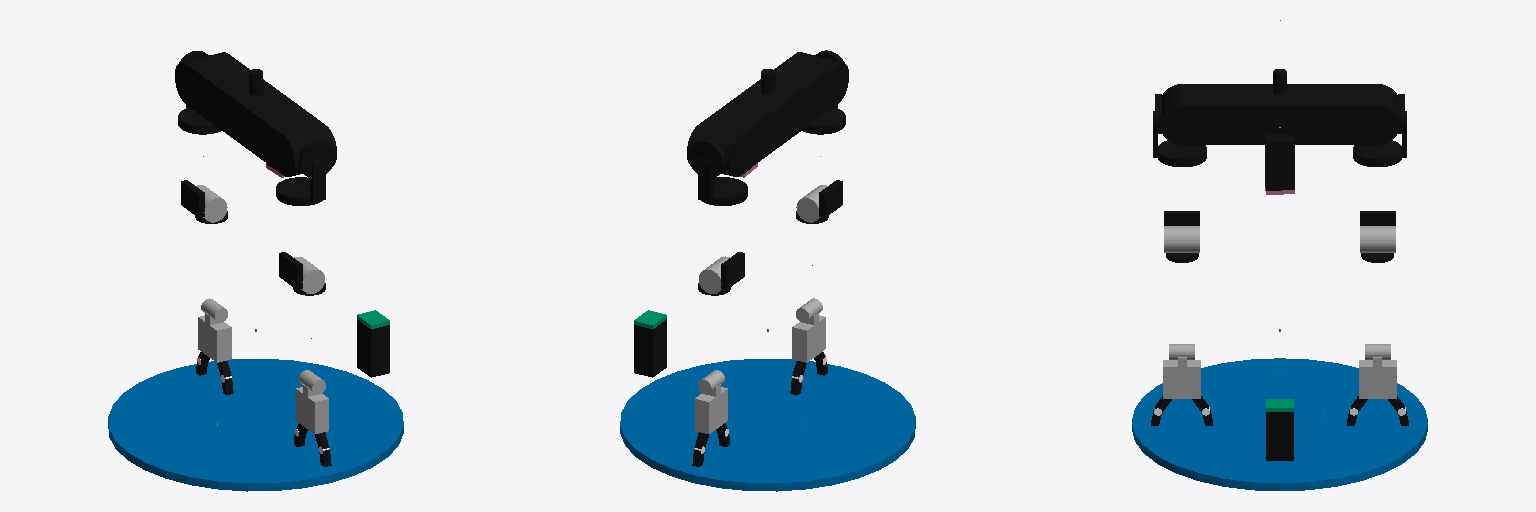
--- Render facts (derived) ---
3 views of the same robot in one strip: view 1: azimuth 30°, elevation 25°; view 2: azimuth 150°, elevation 25°; view 3: azimuth 270°, elevation 25° (orthographic).
Model amigo with 75 links and 74 joints (24 revolute, 1 prismatic, 49 fixed), rooted at base_link, posed joints at zero except 8 at the middle of their limits (finger1_joint_right = 0.6, finger1_tip_joint_right = -0.4, finger2_joint_right = 0.6, finger2_tip_joint_right = -0.4, finger1_joint_left = 0.6, finger1_tip_joint_left = -0.4, +2 more).
Visible links, largest first — view 1: base_plate, clavicles, base_laser, shoulder_mount_right, hand_left, hand_right, upper_arm_top_right, shoulder_link1_right, shoulder_mount_left, upper_arm_top_left, elbow_extra_block_right, elbow_extra_block_left (+3 smaller); view 2: base_plate, clavicles, base_laser, shoulder_mount_left, hand_right, hand_left, upper_arm_top_left, shoulder_link1_left, shoulder_mount_right, upper_arm_top_right, elbow_extra_block_right, elbow_extra_block_left (+3 smaller); view 3: base_plate, clavicles, torso_laser, shoulder_mount_right, shoulder_mount_left, hand_right, hand_left, base_laser, upper_arm_top_right, upper_arm_top_left, elbow_extra_block2_right, elbow_extra_block2_left (+2 smaller).
Boxes of the visible links, bbox=[...] form: base_plate: bbox=[108, 359, 403, 491]; clavicles: bbox=[187, 54, 324, 172]; base_laser: bbox=[357, 320, 389, 377]; shoulder_mount_right: bbox=[273, 125, 336, 176]; hand_left: bbox=[198, 315, 231, 362]; hand_right: bbox=[296, 387, 328, 433]; upper_arm_top_right: bbox=[276, 177, 321, 205]; shoulder_link1_right: bbox=[299, 139, 335, 178]; shoulder_mount_left: bbox=[175, 52, 227, 105]; upper_arm_top_left: bbox=[178, 107, 221, 134]; elbow_extra_block_right: bbox=[279, 252, 302, 289]; elbow_extra_block_left: bbox=[181, 180, 204, 217]; base_plate: bbox=[620, 359, 915, 491]; clavicles: bbox=[699, 54, 837, 174]; base_laser: bbox=[634, 319, 666, 377]; shoulder_mount_left: bbox=[687, 125, 750, 176]; hand_right: bbox=[792, 315, 825, 362]; hand_left: bbox=[695, 387, 727, 433]; upper_arm_top_left: bbox=[702, 177, 747, 205]; shoulder_link1_left: bbox=[688, 139, 724, 178]; shoulder_mount_right: bbox=[796, 52, 848, 105]; upper_arm_top_right: bbox=[802, 107, 845, 134]; elbow_extra_block_right: bbox=[819, 180, 842, 217]; elbow_extra_block_left: bbox=[721, 252, 744, 289]; base_plate: bbox=[1132, 358, 1427, 490]; clavicles: bbox=[1183, 84, 1376, 144]; torso_laser: bbox=[1265, 135, 1294, 190]; shoulder_mount_right: bbox=[1160, 84, 1203, 144]; shoulder_mount_left: bbox=[1356, 84, 1399, 144]; hand_right: bbox=[1163, 360, 1200, 398]; hand_left: bbox=[1359, 360, 1396, 398]; base_laser: bbox=[1266, 412, 1293, 460]; upper_arm_top_right: bbox=[1158, 140, 1206, 166]; upper_arm_top_left: bbox=[1353, 140, 1401, 166]; elbow_extra_block2_right: bbox=[1164, 226, 1199, 252]; elbow_extra_block2_left: bbox=[1360, 226, 1395, 252].
Size in the robot's own frame: 0.6681 by 0.666 by 1.05 metres.
Meshes: 10 distinct files referenced, 14 mesh visuals loaded (10 Collada DAE).

URDF robot description (amigo):
<?xml version="1.0" ?>
<!-- =================================================================================== -->
<!-- |    This document was autogenerated by xacro from [local-path]/ros/groovy/tue/trunk/amigo_common/amigo_description/scripts/../urdf/xacro/amigo_old.urdf.xacro | -->
<!-- |    EDITING THIS FILE BY HAND IS NOT RECOMMENDED                                 | -->
<!-- =================================================================================== -->
<robot name="amigo" xmlns:controller="http://playerstage.sourceforge.net/gazebo/xmlschema/#controller" xmlns:interface="http://playerstage.sourceforge.net/gazebo/xmlschema/#interface" xmlns:sensor="http://playerstage.sourceforge.net/gazebo/xmlschema/#sensor" xmlns:xacro="http://ros.org/wiki/xacro">
  <author>Rob Janssen</author>
  <license>BSD</license>
  <review notes="" status="unreviewed"/>
  <!--get link & joint definitions -->
  <author>Kris van Tienhoven</author>
  <license>BSD</license>
  <review notes="" status="unreviewed"/>
  <!--get custom materials -->
  <author>Kris van Tienhoven</author>
  <license>BSD</license>
  <review notes="" status="unreviewed"/>
  <material name="Blue">
    <color rgba="0.0 0.0 0.8 1.0"/>
  </material>
  <material name="Green">
    <color rgba="0.0 0.8 0.0 1.0"/>
  </material>
  <material name="Grey">
    <color rgba="0.7 0.7 0.7 1.0"/>
  </material>
  <material name="Grey2">
    <color rgba="0.9 0.9 0.9 1.0"/>
  </material>
  <material name="Red">
    <color rgba="0.8 0.0 0.0 1.0"/>
  </material>
  <material name="White">
    <color rgba="1.0 1.0 1.0 1.0"/>
  </material>
  <material name="Black">
    <color rgba="0.1 0.1 0.1 1.0"/>
  </material>
  <material name="LightGrey">
    <color rgba="0.6 0.6 0.6 1.0"/>
  </material>
  <material name="amigo_description/bottomcovers">
    <texture filename="package://amigo_description/media/materials/textures/bottomcovers/finalreduced.jpg"/>
  </material>
  <material name="amigo_description/white">
    <texture filename="package://amigo_description/media/materials/textures/white/white.jpg"/>
  </material>
  <material name="amigo_description/logo">
    <texture filename="package://amigo_description/media/materials/textures/logo/tue.jpg"/>
  </material>
  <material name="amigo_description/aluminium">
    <texture filename="package://amigo_description/media/materials/textures/aluminium/aluminium_0001_c.jpg"/>
  </material>
  <material name="amigo_description/orange">
    <texture filename="package://amigo_description/media/materials/textures/orange/orange.jpg"/>
  </material>
  <!--========BUILD BODY======-->
  <author>Rob Janssen, Kris van Tienhoven</author>
  <license>BSD</license>
  <review notes="" status="unreviewed"/>
  <link name="torso">
    <inertial>
      <origin rpy="0 0 0" xyz="0.0 0.0 0.0"/>
      <mass value="16"/>
      <inertia ixx="0.01" ixy="0" ixz="0" iyy="0.01" iyz="0" izz="0.01"/>
    </inertial>
    <visual>
      <origin rpy="-1.5708 0 -1.5708" xyz="0.045 0.0 0.06"/>
      <geometry>
        <mesh filename="package://amigo_description/media/meshes/torsocovers.dae" scale="0.0004 0.0004 0.0004"/>
      </geometry>
      <material name="amigo_description/white"/>
    </visual>
    <collision>
      <origin rpy="-1.5708 0 -1.5708" xyz="0.045 0.0 0.06"/>
      <geometry>
        <mesh filename="package://amigo_description/media/meshes/torsocovers.dae" scale="0.0004 0.0004 0.0004"/>
      </geometry>
    </collision>
  </link>
  <gazebo reference="torso">
    <material>amigo_description/white</material>
    <turnGravityOff>false</turnGravityOff>
  </gazebo>
  <link name="torso_slider">
    <inertial>
      <origin rpy="0 0 0" xyz="0 0 0"/>
      <mass value="0.1"/>
      <inertia ixx="0.01" ixy="0" ixz="0" iyy="0.01" iyz="0" izz="0.01"/>
    </inertial>
    <visual>
      <origin rpy="0 0 1.5708" xyz="0.05 0 0.0"/>
      <geometry>
        <mesh filename="package://amigo_description/media/meshes/torsoslidertextured.dae" scale="0.004 0.004 0.004"/>
      </geometry>
      <material name="amigo_description/aluminium"/>
    </visual>
    <collision>
      <origin rpy="0 0 1.5708" xyz="0.05 0 0.0"/>
      <geometry>
        <mesh filename="package://amigo_description/media/meshes/torsoslidertextured.dae" scale="0.004 0.004 0.004"/>
      </geometry>
    </collision>
  </link>
  <gazebo reference="torso_slider">
    <material>amigo_description/aluminium</material>
    <turnGravityOff>false</turnGravityOff>
  </gazebo>
  <link name="base">
    <inertial>
      <origin rpy="0 0 0" xyz="0.0 0.0 0.3275"/>
      <mass value="20"/>
      <inertia ixx="2.63" ixy="0" ixz="0" iyy="2.63" iyz="0" izz="2.4"/>
    </inertial>
    <visual>
      <origin rpy="0 0 -1.5708" xyz="0.0 0.0 0.23"/>
      <geometry>
        <mesh filename="package://amigo_description/media/meshes/bottomcovers.dae" scale="0.0004 0.0004 0.0004"/>
      </geometry>
      <material name="amigo_description/bottomcovers"/>
    </visual>
    <collision>
      <origin rpy="0 0 -1.5708" xyz="0.0 0.0 0.23"/>
      <geometry>
        <mesh filename="package://amigo_description/media/meshes/bottomcovers.dae" scale="0.0004 0.0004 0.0004"/>
      </geometry>
    </collision>
  </link>
  <gazebo reference="base">
    <material>amigo_description/bottomcovers</material>
    <turnGravityOff>false</turnGravityOff>
  </gazebo>
  <link name="base_link">
    <inertial>
      <origin rpy="0 0 0" xyz="0.0 0.0 0.0"/>
      <mass value="0"/>
      <inertia ixx="0" ixy="0" ixz="0" iyy="0" iyz="0" izz="0"/>
    </inertial>
    <visual>
      <origin rpy="0 0 0" xyz="0.0 0.0 0.0"/>
      <geometry>
        <cylinder length="0.00" radius="0.0"/>
      </geometry>
      <material name="Red">
     </material>
    </visual>
    <collision>
      <origin rpy="0 0 0" xyz="0.0 0.0 0.0"/>
      <geometry>
        <cylinder length="0.00" radius="0.0"/>
      </geometry>
    </collision>
  </link>
  <gazebo reference="base_link">
    <material>Gazebo/Red</material>
    <turnGravityOff>false</turnGravityOff>
  </gazebo>
  <joint name="torso_joint" type="prismatic">
    <parent link="base"/>
    <child link="torso_slider"/>
    <axis xyz="1 0 0"/>
    <origin rpy="3.14159265 -1.5708 0" xyz="0.0 0.0 0.58"/>
    <dynamics damping="3" friction="0.0"/>
    <!--*-->
    <limit effort="1000" lower="0.0" upper="0.41" velocity="10.0"/>
    <!--*-->
  </joint>
  <joint name="base_link_joint" type="fixed">
    <parent link="base_link"/>
    <child link="base"/>
    <axis xyz="1 0 0"/>
    <origin rpy="0 0 0" xyz="0.0 0.0 0.055"/>
  </joint>
  <joint name="torso_slider_joint" type="fixed">
    <parent link="torso_slider"/>
    <child link="torso"/>
    <axis xyz="1 0 0"/>
    <origin rpy="0 0 0" xyz="0.135 0.0 0.0"/>
  </joint>
  <!--extra body visuals-->
  <author>Kris van Tienhoven</author>
  <license>BSD</license>
  <review notes="" status="unreviewed"/>
  <link name="base_plate">
    <inertial>
      <origin rpy="0 0 0" xyz="0.0 0.0 0.0"/>
      <mass value="0.1"/>
      <inertia ixx="0.01" ixy="0" ixz="0" iyy="0.01" iyz="0" izz="0.01"/>
    </inertial>
    <visual>
      <origin rpy="0 0 0" xyz="0.0 0.0 0.0"/>
      <geometry>
        <cylinder length="0.02" radius="0.333"/>
      </geometry>
      <material name="amigo_description/aluminium">
     </material>
    </visual>
    <collision>
      <origin rpy="0 0 0" xyz="0.0 0.0 0.0"/>
      <geometry>
        <cylinder length="0.02" radius="0.333"/>
      </geometry>
    </collision>
  </link>
  <gazebo reference="base_plate">
    <material>amigo_description/aluminium</material>
    <turnGravityOff>false</turnGravityOff>
  </gazebo>
  <joint name="base_plate_joint" type="fixed">
    <parent link="base_link"/>
    <child link="base_plate"/>
    <axis xyz="1 0 0"/>
    <origin rpy="0 0 0" xyz="0.0 0.0 0.05"/>
  </joint>
  <link name="torso_assist_slider_right">
    <inertial>
      <origin rpy="0 0 0" xyz="0 0 0"/>
      <mass value="0.01"/>
      <inertia ixx="0.01" ixy="0" ixz="0" iyy="0.01" iyz="0" izz="0.01"/>
    </inertial>
    <visual>
      <origin rpy="0 1.5708 0" xyz="-0.4  0.0 0.0"/>
      <geometry>
        <mesh filename="package://amigo_description/media/meshes/torsoassistslidertextured.dae" scale="0.004 0.004 0.005"/>
      </geometry>
      <material name="amigo_description/aluminium"/>
    </visual>
    <collision>
      <origin rpy="0 1.5708 0" xyz="-0.4  0.0 0.0"/>
      <geometry>
        <mesh filename="package://amigo_description/media/meshes/torsoassistslidertextured.dae" scale="0.004 0.004 0.005"/>
      </geometry>
    </collision>
  </link>
  <gazebo reference="torso_assist_slider_right">
    <material>amigo_description/aluminium</material>
    <turnGravityOff>false</turnGravityOff>
  </gazebo>
  <link name="torso_assist_slider_left">
    <inertial>
      <origin rpy="0 0 0" xyz="0 0 0"/>
      <mass value="0.01"/>
      <inertia ixx="0.01" ixy="0" ixz="0" iyy="0.01" iyz="0" izz="0.01"/>
    </inertial>
    <visual>
      <origin rpy="0 1.5708 0" xyz="-0.4  0.0 0.0"/>
      <geometry>
        <mesh filename="package://amigo_description/media/meshes/torsoassistslidertextured.dae" scale="0.004 0.004 0.005"/>
      </geometry>
      <material name="amigo_description/aluminium"/>
    </visual>
    <collision>
      <origin rpy="0 1.5708 0" xyz="-0.4  0.0 0.0"/>
      <geometry>
        <mesh filename="package://amigo_description/media/meshes/torsoassistslidertextured.dae" scale="0.004 0.004 0.005"/>
      </geometry>
    </collision>
  </link>
  <gazebo reference="torso_assist_slider_left">
    <material>amigo_description/aluminium</material>
    <turnGravityOff>false</turnGravityOff>
  </gazebo>
  <link name="torso_assist_slider_back">
    <inertial>
      <origin rpy="0 0 0" xyz="0 0 0"/>
      <mass value="0.01"/>
      <inertia ixx="0.01" ixy="0" ixz="0" iyy="0.01" iyz="0" izz="0.01"/>
    </inertial>
    <visual>
      <origin rpy="0 1.5708 0" xyz="-0.4 0.0 0.0"/>
      <geometry>
        <mesh filename="package://amigo_description/media/meshes/torsoassistslidertextured.dae" scale="0.004 0.004 0.005"/>
      </geometry>
      <material name="amigo_description/aluminium"/>
    </visual>
    <collision>
      <origin rpy="0 1.5708 0" xyz="-0.4 0.0 0.0"/>
      <geometry>
        <mesh filename="package://amigo_description/media/meshes/torsoassistslidertextured.dae" scale="0.004 0.004 0.005"/>
      </geometry>
    </collision>
  </link>
  <gazebo reference="torso_assist_slider_back">
    <material>amigo_description/aluminium</material>
    <turnGravityOff>false</turnGravityOff>
  </gazebo>
  <joint name="torso_slider_assist_joint_right" type="fixed">
    <parent link="torso"/>
    <child link="torso_assist_slider_right"/>
    <origin rpy="0 0 0" xyz="-0.3 0.1 0.0"/>
  </joint>
  <joint name="torso_slider_assist_joint_left" type="fixed">
    <parent link="torso"/>
    <child link="torso_assist_slider_left"/>
    <origin rpy="0 0 0" xyz="-0.3 -0.1 0.0"/>
  </joint>
  <joint name="torso_slider_assist_joint_back" type="fixed">
    <parent link="torso"/>
    <child link="torso_assist_slider_back"/>
    <origin rpy="1.5708 0 0" xyz="-0.3 0.0 -0.1"/>
  </joint>
  <link name="clavicles">
    <inertial>
      <origin rpy="0 0 0" xyz="0 0 0"/>
      <mass value="0.01"/>
      <inertia ixx="0.01" ixy="0" ixz="0" iyy="0.01" iyz="0" izz="0.01"/>
    </inertial>
    <visual>
      <origin rpy="0 0 0" xyz="0.0 0.0 0.0"/>
      <geometry>
        <box size="0.1 0.436 0.11"/>
      </geometry>
      <material name="Black">
     </material>
    </visual>
    <collision>
      <origin rpy="0 0 0" xyz="0.0 0.0 0.0"/>
      <geometry>
        <box size="0.1 0.436 0.11"/>
      </geometry>
    </collision>
  </link>
  <gazebo reference="clavicles">
    <material>Gazebo/Black</material>
    <turnGravityOff>false</turnGravityOff>
  </gazebo>
  <joint name="clavicle_joint" type="fixed">
    <parent link="torso"/>
    <child link="clavicles"/>
    <origin rpy="0 0 0" xyz="0.05 0.0 0.0"/>
  </joint>
  <!--========BUILD LASERS======-->
  <author>Kris van Tienhoven</author>
  <license>BSD</license>
  <review notes="" status="unreviewed"/>
  <link name="base_laser">
    <inertial>
      <origin rpy="0 0 0" xyz="0.0 0.0 0.0"/>
      <mass value="0.5"/>
      <inertia ixx="0.0001" ixy="0" ixz="0" iyy="0.0001" iyz="0" izz="0.0001"/>
    </inertial>
    <visual>
      <origin rpy="0 0 0" xyz="-0.005 0.0 -0.065"/>
      <geometry>
        <box size="0.05 0.065 0.12"/>
      </geometry>
      <material name="Black">
     </material>
    </visual>
    <collision>
      <origin rpy="0 0 0" xyz="-0.005 0.0 -0.065"/>
      <geometry>
        <box size="0.05 0.065 0.12"/>
      </geometry>
    </collision>
  </link>
  <gazebo reference="base_laser">
    <material>Gazebo/Black</material>
    <turnGravityOff>false</turnGravityOff>
  </gazebo>
  <joint name="base_laser_joint" type="fixed">
    <parent link="base"/>
    <child link="base_laser"/>
    <origin rpy="0 0 0" xyz="0.31 0.0 0.185"/>
    <axis xyz="0 1 0"/>
    <dynamics damping="0.1" friction="0"/>
    <limit effort="13.4" lower="-0.7809" upper="1.5708" velocity="1.0"/>
  </joint>
  <link name="lasertop">
    <inertial>
      <origin rpy="0 0 0" xyz="0.0 0.0 0.0"/>
      <mass value="0.01"/>
      <inertia ixx="0.0001" ixy="0" ixz="0" iyy="0.0001" iyz="0" izz="0.0001"/>
    </inertial>
    <visual>
      <origin rpy="0 0 0" xyz="-0.005 0.0 0.0"/>
      <geometry>
        <box size="0.05 0.065 0.01"/>
      </geometry>
      <material name="amigo_description/orange">
     </material>
    </visual>
    <collision>
      <origin rpy="0 0 0" xyz="-0.005 0.0 0.0"/>
      <geometry>
        <box size="0.05 0.065 0.01"/>
      </geometry>
    </collision>
  </link>
  <gazebo reference="lasertop">
    <material>amigo_description/orange</material>
    <turnGravityOff>false</turnGravityOff>
  </gazebo>
  <joint name="lasertop_joint" type="fixed">
    <parent link="base_laser"/>
    <child link="lasertop"/>
  </joint>
  <link name="logo">
    <inertial>
      <origin rpy="0 0 0" xyz="0.0 0.0 0.0"/>
      <mass value="0.01"/>
      <inertia ixx="0.0001" ixy="0" ixz="0" iyy="0.0001" iyz="0" izz="0.0001"/>
    </inertial>
    <visual>
      <origin rpy="0 0 3.1415" xyz="0.025 0.0 -0.14"/>
      <geometry>
        <mesh filename="package://amigo_description/media/meshes/logo.dae" scale="0.0016 0.0016 0.0016"/>
      </geometry>
      <material name="amigo_description/logo"/>
    </visual>
    <collision>
      <origin rpy="0 0 3.1415" xyz="0.025 0.0 -0.14"/>
      <geometry>
        <mesh filename="package://amigo_description/media/meshes/logo.dae" scale="0.0016 0.0016 0.0016"/>
      </geometry>
    </collision>
  </link>
  <gazebo reference="logo">
    <material>amigo_description/logo</material>
    <turnGravityOff>false</turnGravityOff>
  </gazebo>
  <joint name="logo_joint" type="fixed">
    <parent link="base_laser"/>
    <child link="logo"/>
  </joint>
  <author>Janno Lunenburg</author>
  <license>BSD</license>
  <review notes="" status="unreviewed"/>
  <link name="torso_dummy">
    <inertial>
      <origin rpy="0 0 0" xyz="0.0 0.0 0.0"/>
      <mass value="0"/>
      <inertia ixx="0" ixy="0" ixz="0" iyy="0" iyz="0" izz="0"/>
    </inertial>
    <visual>
      <origin rpy="0 0 0" xyz="0.0 0.0 0.0"/>
      <geometry>
        <cylinder length="0.00" radius="0.0"/>
      </geometry>
      <material name="Red">
     </material>
    </visual>
    <collision>
      <origin rpy="0 0 0" xyz="0.0 0.0 0.0"/>
      <geometry>
        <cylinder length="0.00" radius="0.0"/>
      </geometry>
    </collision>
  </link>
  <gazebo reference="torso_dummy">
    <material>Gazebo/Red</material>
    <turnGravityOff>false</turnGravityOff>
  </gazebo>
  <link name="torso_laser">
    <inertial>
      <origin rpy="0 0 0" xyz="0.0 0.0 0.0"/>
      <mass value="0.5"/>
      <inertia ixx="0.0001" ixy="0" ixz="0" iyy="0.0001" iyz="0" izz="0.0001"/>
    </inertial>
    <visual>
      <origin rpy="0 0 0" xyz="-0.005 0.0 -0.065"/>
      <geometry>
        <box size="0.05 0.065 0.12"/>
      </geometry>
      <material name="Black">
     </material>
    </visual>
    <collision>
      <origin rpy="0 0 0" xyz="-0.005 0.0 -0.065"/>
      <geometry>
        <box size="0.05 0.065 0.12"/>
      </geometry>
    </collision>
  </link>
  <gazebo reference="torso_laser">
    <material>Gazebo/Black</material>
    <turnGravityOff>false</turnGravityOff>
  </gazebo>
  <joint name="torso_dummy_joint" type="fixed">
    <parent link="torso"/>
    <child link="torso_dummy"/>
    <origin rpy="0.0 -1.57 0.0" xyz="-0.0994 0.0 0.075"/>
    <axis xyz="0 1 0"/>
    <dynamics damping="0.1" friction="0"/>
    <limit effort="13.4" lower="-0.7809" upper="1.5708" velocity="1.0"/>
  </joint>
  <joint name="torso_laser_joint" type="fixed">
    <parent link="torso_dummy"/>
    <child link="torso_laser"/>
    <origin rpy="0.0 0.0 -0.05" xyz="0.0 0.0 0.0"/>
    <axis xyz="0 1 0"/>
    <dynamics damping="0.1" friction="0"/>
    <limit effort="13.4" lower="-0.7809" upper="1.5708" velocity="1.0"/>
  </joint>
  <link name="torso_lasertop">
    <inertial>
      <origin rpy="0 0 0" xyz="0.0 0.0 0.0"/>
      <mass value="0.01"/>
      <inertia ixx="0.0001" ixy="0" ixz="0" iyy="0.0001" iyz="0" izz="0.0001"/>
    </inertial>
    <visual>
      <origin rpy="0 0 0" xyz="-0.005 0.0 0.0"/>
      <geometry>
        <box size="0.05 0.065 0.01"/>
      </geometry>
      <material name="amigo_description/orange">
     </material>
    </visual>
    <collision>
      <origin rpy="0 0 0" xyz="-0.005 0.0 0.0"/>
      <geometry>
        <box size="0.05 0.065 0.01"/>
      </geometry>
    </collision>
  </link>
  <gazebo reference="torso_lasertop">
    <material>amigo_description/orange</material>
    <turnGravityOff>false</turnGravityOff>
  </gazebo>
  <joint name="torso_lasertop_joint" type="fixed">
    <parent link="torso_laser"/>
    <child link="torso_lasertop"/>
  </joint>
  <!--========BUILD HEAD======-->
  <author>Kris van Tienhoven</author>
  <license>BSD</license>
  <review notes="" status="unreviewed"/>
  <link name="head_mount">
    <inertial>
      <origin rpy="0 0 0" xyz="0.0 0.0 0.0"/>
      <mass value="0.001"/>
      <inertia ixx="0.0001" ixy="0" ixz="0" iyy="0.0001" iyz="0" izz="0.0001"/>
    </inertial>
  </link>
  <joint name="head_mount_joint" type="fixed">
    <parent link="torso"/>
    <child link="head_mount"/>
    <axis xyz="0 0 1"/>
    <origin rpy="  0.0 0.0 0.0" xyz="0.097 0.0 0.0"/>
  </joint>
  <link name="neck_pan">
    <inertial>
      <origin rpy="0 0 0" xyz="0.0 0.0 0.0335"/>
      <mass value="0.05"/>
      <inertia ixx="0.0001" ixy="0" ixz="0" iyy="0.0001" iyz="0" izz="0.0001"/>
    </inertial>
    <visual>
      <origin rpy="0 0 0" xyz="0.0 0.0 0.0335"/>
      <geometry>
        <cylinder length="0.0525" radius="0.015"/>
      </geometry>
      <material name="Black">
     </material>
    </visual>
    <collision>
      <origin rpy="0 0 0" xyz="0.0 0.0 0.0335"/>
      <geometry>
        <cylinder length="0.0525" radius="0.015"/>
      </geometry>
    </collision>
  </link>
  <gazebo reference="neck_pan">
    <material>Gazebo/Black</material>
    <turnGravityOff>false</turnGravityOff>
  </gazebo>
  <link name="neck_tilt">
    <inertial>
      <origin rpy="0 0 0" xyz="0.0 -0.0 0.0285"/>
      <mass value="0.05"/>
      <inertia ixx="0.001" ixy="0" ixz="0" iyy="0.001" iyz="0" izz="0.001"/>
    </inertial>
    <visual>
      <origin rpy="0 0 0" xyz="0.0 -0.0 0.015"/>
      <geometry>
        <mesh filename="package://amigo_description/media/meshes/necktilttextured.dae" scale="0.004 0.004 0.004"/>
      </geometry>
      <material name="amigo_description/aluminium"/>
    </visual>
    <collision>
      <origin rpy="0 0 0" xyz="0.0 -0.0 0.015"/>
      <geometry>
        <mesh filename="package://amigo_description/media/meshes/necktilttextured.dae" scale="0.004 0.004 0.004"/>
      </geometry>
    </collision>
  </link>
  <gazebo reference="neck_tilt">
    <material>amigo_description/aluminium</material>
    <turnGravityOff>false</turnGravityOff>
  </gazebo>
  <link name="head">
    <inertial>
      <origin rpy="0 0 0" xyz="0 0 0.041"/>
      <mass value="0"/>
      <inertia ixx="0" ixy="0" ixz="0" iyy="0" iyz="0" izz="0"/>
    </inertial>
    <visual>
      <origin rpy="0 0 -1.5708" xyz="0.0 0.0 0.141"/>
      <geometry>
        <mesh filename="package://amigo_description/media/meshes/headtextured.dae" scale="0.0004 0.0004 0.0004"/>
      </geometry>
      <material name="amigo_description/white"/>
    </visual>
    <collision>
      <origin rpy="0 0 -1.5708" xyz="0.0 0.0 0.141"/>
      <geometry>
        <mesh filename="package://amigo_description/media/meshes/headtextured.dae" scale="0.0004 0.0004 0.0004"/>
      </geometry>
    </collision>
  </link>
  <gazebo reference="head">
    <material>amigo_description/white</material>
    <turnGravityOff>false</turnGravityOff>
  </gazebo>
  <joint name="head_joint" type="fixed">
    <parent link="neck_tilt"/>
    <child link="head"/>
  </joint>
  <joint name="neck_pan_joint" type="revolute">
    <parent link="head_mount"/>
    <child link="neck_pan"/>
    <origin rpy="3.14 -1.5708 0.0" xyz="0.0 0.0 0.0"/>
    <axis xyz="0 0 1"/>
    <dynamics damping="0.1" friction="0"/>
    <limit effort="13.4" lower="-1.5708" upper="1.5708" velocity="1.0"/>
  </joint>
  <joint name="neck_tilt_joint" type="revolute">
    <parent link="neck_pan"/>
    <child link="neck_tilt"/>
    <origin rpy="0.0 0.0 0.0" xyz="0.0 0.0 0.0445"/>
    <axis xyz="0 1 0"/>
    <dynamics damping="0.1" friction="0.0"/>
    <limit effort="13.4" lower="-2.0" upper="2.0" velocity="1.0"/>
  </joint>
  <!--========BUILD KINECT======-->
  <joint name="top_kinect/base_kinect_joint" type="fixed">
    <origin rpy="0 0 0" xyz="0.07 0 0.07"/>
    <!-- THESE VALUES ARE ROUGH ESTIMATES!! -->
    <parent link="head"/>
    <child link="top_kinect/openni_camera"/>
  </joint>
  <link name="top_kinect/openni_camera">
    <inertial>
      <mass value="0.01"/>
      <origin xyz="0 0 0"/>
      <inertia ixx="0.001" ixy="0.0" ixz="0.0" iyy="0.001" iyz="0.0" izz="0.001"/>
    </inertial>
    <visual>
      <origin rpy="0 0 0" xyz=" 0 0 0 "/>
      <geometry>
        <box size="0 0 0"/>
        <!--mesh filename="package://amigo_description/kinect/meshes/kinect.dae" scale="0.001 0.001 0.001"/-->
        <!--<mesh filename="package://amigo_description/kinect/meshes/kinect_without_base.dae"/>-->
      </geometry>
    </visual>
    <!--<collision>
      <origin xyz="-0.0365 0.0 0.0" rpy="0 0 0" />
      <geometry>
        <box size="0.0730 .2760 0.0720"/>
      </geometry>
    </collision>-->
  </link>
  <joint name="top_kinect/kinect_depth_joint" type="fixed">
    <origin rpy="0 0 0" xyz="0 0.018 0"/>
    <parent link="top_kinect/openni_camera"/>
    <child link="top_kinect/openni_depth_frame"/>
  </joint>
  <link name="top_kinect/openni_depth_frame">
    <inertial>
      <mass value="0.01"/>
      <origin xyz="0 0 0"/>
      <inertia ixx="0.001" ixy="0.0" ixz="0.0" iyy="0.001" iyz="0.0" izz="0.001"/>
    </inertial>
  </link>
  <joint name="top_kinect/kinect_depth_optical_joint" type="fixed">
    <origin rpy="-1.570795 0 -1.570795" xyz="0 0 0"/>
    <parent link="top_kinect/openni_depth_frame"/>
    <child link="top_kinect/openni_depth_optical_frame"/>
  </joint>
  <link name="top_kinect/openni_depth_optical_frame">
    <inertial>
      <mass value="0.001"/>
      <origin xyz="0 0 0"/>
      <inertia ixx="0.0001" ixy="0.0" ixz="0.0" iyy="0.0001" iyz="0.0" izz="0.0001"/>
    </inertial>
  </link>
  <joint name="top_kinect/kinect_rgb_joint" type="fixed">
    <origin rpy="0 0 0" xyz="0 -0.005 0"/>
    <parent link="top_kinect/openni_camera"/>
    <child link="top_kinect/openni_rgb_frame"/>
  </joint>
  <link name="top_kinect/openni_rgb_frame">
    <inertial>
      <mass value="0.001"/>
      <origin xyz="0 0 0"/>
      <inertia ixx="0.0001" ixy="0.0" ixz="0.0" iyy="0.0001" iyz="0.0" izz="0.0001"/>
    </inertial>
  </link>
  <joint name="top_kinect/kinect_rgb_optical_joint" type="fixed">
    <origin rpy="-1.570795 0 -1.570795" xyz="0 0 0"/>
    <parent link="top_kinect/openni_rgb_frame"/>
    <child link="top_kinect/openni_rgb_optical_frame"/>
  </joint>
  <link name="top_kinect/openni_rgb_optical_frame">
    <inertial>
      <mass value="0.001"/>
      <origin xyz="0 0 0"/>
      <inertia ixx="0.0001" ixy="0.0" ixz="0.0" iyy="0.0001" iyz="0.0" izz="0.0001"/>
    </inertial>
  </link>
  <joint name="base_kinect/base_kinect_joint" type="fixed">
    <origin rpy="0 -0.07 0" xyz="0.3 0 0.26"/>
    <!-- THESE VALUES STILL HAVE TO BE CALIBRATED!! -->
    <parent link="base"/>
    <child link="base_kinect/openni_camera"/>
  </joint>
  <link name="base_kinect/openni_camera">
    <inertial>
      <mass value="0.01"/>
      <origin xyz="0 0 0"/>
      <inertia ixx="0.001" ixy="0.0" ixz="0.0" iyy="0.001" iyz="0.0" izz="0.001"/>
    </inertial>
    <visual>
      <origin rpy="0 0 0" xyz=" 0 0 0 "/>
      <geometry>
        <!--<box size="0 0 0"/>-->
        <!--mesh filename="package://amigo_description/description/kinect/meshes/kinect.dae" scale="0.001 0.001 0.001"/-->
        <mesh filename="package://amigo_description/media/meshes/kinect/kinect_without_base.dae"/>
      </geometry>
    </visual>
    <collision>
      <origin rpy="0 0 0" xyz=" 0 0 0 "/>
      <geometry>
        <!--<box size="0.01 0.01 0.01"/>-->
        <!--<mesh filename="package://amigo_description/description/kinect/meshes/kinect.dae" scale="0.001 0.001 0.001"/>-->
        <mesh filename="package://amigo_description/media/meshes/kinect/kinect_without_base.dae"/>
      </geometry>
    </collision>
  </link>
  <joint name="base_kinect/kinect_depth_joint" type="fixed">
    <origin rpy="0 0 0" xyz="0 0.018 0"/>
    <parent link="base_kinect/openni_camera"/>
    <child link="base_kinect/openni_depth_frame"/>
  </joint>
  <link name="base_kinect/openni_depth_frame">
    <inertial>
      <mass value="0.01"/>
      <origin xyz="0 0 0"/>
      <inertia ixx="0.001" ixy="0.0" ixz="0.0" iyy="0.001" iyz="0.0" izz="0.001"/>
    </inertial>
  </link>
  <joint name="base_kinect/kinect_depth_optical_joint" type="fixed">
    <origin rpy="-1.570795 0 -1.570795" xyz="0 0 0"/>
    <parent link="base_kinect/openni_depth_frame"/>
    <child link="base_kinect/openni_depth_optical_frame"/>
  </joint>
  <link name="base_kinect/openni_depth_optical_frame">
    <inertial>
      <mass value="0.001"/>
      <origin xyz="0 0 0"/>
      <inertia ixx="0.0001" ixy="0.0" ixz="0.0" iyy="0.0001" iyz="0.0" izz="0.0001"/>
    </inertial>
  </link>
  <joint name="base_kinect/kinect_rgb_joint" type="fixed">
    <origin rpy="0 0 0" xyz="0 -0.005 0"/>
    <parent link="base_kinect/openni_camera"/>
    <child link="base_kinect/openni_rgb_frame"/>
  </joint>
  <link name="base_kinect/openni_rgb_frame">
    <inertial>
      <mass value="0.001"/>
      <origin xyz="0 0 0"/>
      <inertia ixx="0.0001" ixy="0.0" ixz="0.0" iyy="0.0001" iyz="0.0" izz="0.0001"/>
    </inertial>
  </link>
  <joint name="base_kinect/kinect_rgb_optical_joint" type="fixed">
    <origin rpy="-1.570795 0 -1.570795" xyz="0 0 0"/>
    <parent link="base_kinect/openni_rgb_frame"/>
    <child link="base_kinect/openni_rgb_optical_frame"/>
  </joint>
  <link name="base_kinect/openni_rgb_optical_frame">
    <inertial>
      <mass value="0.001"/>
      <origin xyz="0 0 0"/>
      <inertia ixx="0.0001" ixy="0.0" ixz="0.0" iyy="0.0001" iyz="0.0" izz="0.0001"/>
    </inertial>
  </link>
  <!--========BUILD ARMS======-->
  <author>Rob Janssen, Kris van Tienhoven</author>
  <license>BSD</license>
  <review notes="" status="unreviewed"/>
  <link name="shoulder_mount_right">
    <inertial>
      <origin rpy="0 0 0" xyz="0.0 0.0 0.0"/>
      <mass value="0.15"/>
      <inertia ixx="0.01" ixy="0" ixz="0" iyy="0.01" iyz="0" izz="0.01"/>
    </inertial>
    <visual>
      <origin rpy="0 0 0 " xyz="0.0 0.0 0.0"/>
      <geometry>
        <cylinder length="0.11" radius="0.05"/>
      </geometry>
      <material name="Black">
     </material>
    </visual>
    <collision>
      <origin rpy="0 0 0 " xyz="0.0 0.0 0.0"/>
      <geometry>
        <cylinder length="0.11" radius="0.05"/>
      </geometry>
    </collision>
  </link>
  <gazebo reference="shoulder_mount_right">
    <material>Gazebo/Black</material>
    <turnGravityOff>false</turnGravityOff>
  </gazebo>
  <link name="shoulder_link1_right">
    <inertial>
      <origin rpy="0 0 0" xyz="0.0 0.0 0.0"/>
      <mass value="0.25"/>
      <inertia ixx="6.0" ixy="0" ixz="0" iyy="0.01" iyz="0" izz="0.01"/>
    </inertial>
    <visual>
      <origin rpy="0 0 0 " xyz="0.0 0.0 0.0525"/>
      <geometry>
        <cylinder length="0.015" radius="0.045"/>
      </geometry>
      <material name="Black">
     </material>
    </visual>
    <collision>
      <origin rpy="0 0 0 " xyz="0.0 0.0 0.0525"/>
      <geometry>
        <cylinder length="0.015" radius="0.045"/>
      </geometry>
    </collision>
  </link>
  <gazebo reference="shoulder_link1_right">
    <material>Gazebo/Black</material>
    <turnGravityOff>false</turnGravityOff>
  </gazebo>
  <link name="shoulder_link2_right">
    <inertial>
      <origin rpy="0 0 0" xyz="0.0 0.0 0.0"/>
      <mass value="0.15"/>
      <inertia ixx="0.01" ixy="0" ixz="0" iyy="4.04" iyz="0" izz="0.001"/>
    </inertial>
    <visual>
      <origin rpy="0 0 0" xyz="0.0 -0.06 -0.05"/>
      <geometry>
        <box size="0.035 0.01 0.1"/>
      </geometry>
      <material name="Black">
     </material>
    </visual>
    <collision>
      <origin rpy="0 0 0" xyz="0.0 -0.06 -0.05"/>
      <geometry>
        <box size="0.035 0.01 0.1"/>
      </geometry>
    </collision>
  </link>
  <gazebo reference="shoulder_link2_right">
    <material>Gazebo/Black</material>
    <turnGravityOff>false</turnGravityOff>
  </gazebo>
  <link name="upper_arm_right">
    <inertial>
      <origin rpy="0 0 0" xyz="0.0 -0.2 0.0"/>
      <mass value="2.95"/>
      <inertia ixx="0.027" ixy="0" ixz="0" iyy="0.45993" iyz="0" izz="0.004"/>
    </inertial>
    <visual>
      <origin rpy="0 0 3.1415" xyz="-0.00959 -0.19131 -0.00001"/>
      <geometry>
        <mesh filename="package://amigo_description/media/meshes/upperarmtextured.dae" scale="0.0004 0.0004 0.0004"/>
      </geometry>
      <material name="amigo_description/white"/>
    </visual>
    <collision>
      <origin rpy="0 0 3.1415" xyz="-0.00959 -0.19131 -0.00001"/>
      <geometry>
        <mesh filename="package://amigo_description/media/meshes/upperarmtextured.dae" scale="0.0004 0.0004 0.0004"/>
      </geometry>
    </collision>
  </link>
  <gazebo reference="upper_arm_right">
    <material>amigo_description/white</material>
    <turnGravityOff>false</turnGravityOff>
  </gazebo>
  <link name="elbow_link4_right">
    <inertial>
      <origin rpy="0 0 0" xyz="0.0 0.0 0.0"/>
      <mass value="0.1"/>
      <inertia ixx="0.001" ixy="0" ixz="0" iyy="0.6" iyz="0" izz="0.001"/>
    </inertial>
    <visual>
      <origin rpy="0 0 0" xyz="0.0 0.0 0.0"/>
      <geometry>
        <cylinder length="0.0" radius="0.0"/>
      </geometry>
      <material name="Grey">
     </material>
    </visual>
    <collision>
      <origin rpy="0 0 0" xyz="0.0 0.0 0.0"/>
      <geometry>
        <cylinder length="0.0" radius="0.0"/>
      </geometry>
    </collision>
  </link>
  <gazebo reference="elbow_link4_right">
    <material>Gazebo/Grey</material>
    <turnGravityOff>false</turnGravityOff>
  </gazebo>
  <link name="fore_arm_right">
    <inertial>
      <origin rpy="0.0 0 0" xyz="0.0 -0.14 0.0"/>
      <mass value="0.85"/>
      <inertia ixx="0.001" ixy="0" ixz="0" iyy="0.5" iyz="0" izz="0.001"/>
    </inertial>
    <visual>
      <origin rpy="0 -1.5708 0" xyz="0.00425 -0.14868 0.00547"/>
      <geometry>
        <mesh filename="package://amigo_description/media/meshes/forearmtextured.dae" scale="0.0004 0.0004 0.0004"/>
      </geometry>
      <material name="amigo_description/white"/>
    </visual>
    <collision>
      <origin rpy="0 -1.5708 0" xyz="0.00425 -0.14868 0.00547"/>
      <geometry>
        <mesh filename="package://amigo_description/media/meshes/forearmtextured.dae" scale="0.0004 0.0004 0.0004"/>
      </geometry>
    </collision>
  </link>
  <gazebo reference="fore_arm_right">
    <material>amigo_description/white</material>
    <turnGravityOff>false</turnGravityOff>
  </gazebo>
  <link name="wrist_link6_right">
    <inertial>
      <origin rpy="0 0 0" xyz="0.0 0.0 0.0"/>
      <mass value="0.01"/>
      <inertia ixx="0.001" ixy="0" ixz="0" iyy="0.03322" iyz="0" izz="0.001"/>
    </inertial>
    <visual>
      <origin rpy="1.5708 0 0" xyz="0.0 0.0 0.0"/>
      <geometry>
        <cylinder length="0.0" radius="0.0"/>
      </geometry>
      <material name="Black">
     </material>
    </visual>
    <collision>
      <origin rpy="1.5708 0 0" xyz="0.0 0.0 0.0"/>
      <geometry>
        <cylinder length="0.0" radius="0.0"/>
      </geometry>
    </collision>
  </link>
  <gazebo reference="wrist_link6_right">
    <material>Gazebo/Black</material>
    <turnGravityOff>false</turnGravityOff>
  </gazebo>
  <link name="hand_right">
    <inertial>
      <origin rpy="0 0 0" xyz="0.048 0.0 0.0"/>
      <mass value="0.2"/>
      <inertia ixx="0.01" ixy="0" ixz="0" iyy="0.01" iyz="0" izz="0.0622"/>
    </inertial>
    <visual>
      <origin rpy="0 0 0" xyz="0.048 0.0 0.0"/>
      <geometry>
        <box size="0.080 0.085 0.038"/>
      </geometry>
      <material name="Grey">
     </material>
    </visual>
    <collision>
      <origin rpy="0 0 0" xyz="0.048 0.0 0.0"/>
      <geometry>
        <box size="0.080 0.085 0.038"/>
      </geometry>
    </collision>
  </link>
  <gazebo reference="hand_right">
    <material>Gazebo/Grey</material>
    <turnGravityOff>false</turnGravityOff>
  </gazebo>
  <link name="finger1_right">
    <inertial>
      <origin rpy="0 0 0" xyz="0.0 0.0 -0.03"/>
      <mass value="0.01"/>
      <inertia ixx="0.01" ixy="0" ixz="0" iyy="0.01" iyz="0" izz="0.01"/>
    </inertial>
    <visual>
      <origin rpy="0 0 0" xyz="0.0 0.0 -0.03"/>
      <geometry>
        <box size="0.018 0.018 0.06"/>
      </geometry>
      <material name="Black">
     </material>
    </visual>
    <collision>
      <origin rpy="0 0 0" xyz="0.0 0.0 -0.03"/>
      <geometry>
        <box size="0.018 0.018 0.06"/>
      </geometry>
    </collision>
  </link>
  <gazebo reference="finger1_right">
    <material>Gazebo/Black</material>
    <turnGravityOff>false</turnGravityOff>
  </gazebo>
  <gazebo reference="finger1_right">
    <mu1 value="100.0"/>
    <mu2 value="100.0"/>
  </gazebo>
  <link name="finger1_phalanx_right">
    <inertial>
      <origin rpy="0 0 0" xyz="0.0 0.0 0"/>
      <mass value="0.01"/>
      <inertia ixx="0.001" ixy="0" ixz="0" iyy="0.001" iyz="0" izz="0.001"/>
    </inertial>
    <visual>
      <origin rpy="0 0 0" xyz="0.0 0.0 0"/>
      <geometry>
        <cylinder length="0.019" radius="0.009"/>
      </geometry>
      <material name="White">
     </material>
    </visual>
    <collision>
      <origin rpy="0 0 0" xyz="0.0 0.0 0"/>
      <geometry>
        <cylinder length="0.019" radius="0.009"/>
      </geometry>
    </collision>
  </link>
  <gazebo reference="finger1_phalanx_right">
    <material>Gazebo/White</material>
    <turnGravityOff>false</turnGravityOff>
  </gazebo>
  <link name="finger1_tip_right">
    <inertial>
      <origin rpy="0 0 0" xyz="0.0 0.0 -0.03"/>
      <mass value="0.01"/>
      <inertia ixx="0.00037" ixy="0" ixz="0" iyy="0.00052" iyz="0" izz="0.00052"/>
    </inertial>
    <visual>
      <origin rpy="0 0 0" xyz="0.0 0.0 -0.03"/>
      <geometry>
        <box size="0.018 0.018 0.06"/>
      </geometry>
      <material name="Black">
     </material>
    </visual>
    <collision>
      <origin rpy="0 0 0" xyz="0.0 0.0 -0.03"/>
      <geometry>
        <box size="0.018 0.018 0.06"/>
      </geometry>
    </collision>
  </link>
  <gazebo reference="finger1_tip_right">
    <material>Gazebo/Black</material>
    <turnGravityOff>false</turnGravityOff>
  </gazebo>
  <gazebo reference="finger1_tip_right">
    <mu1 value="100.0"/>
    <mu2 value="100.0"/>
  </gazebo>
  <link name="finger1_tip_phalanx_right">
    <inertial>
      <origin rpy="0 0 0" xyz="0.0 0.0 0"/>
      <mass value="0.01"/>
      <inertia ixx="0.001" ixy="0" ixz="0" iyy="0.001" iyz="0" izz="0.001"/>
    </inertial>
    <visual>
      <origin rpy="0 0 0" xyz="0.0 0.0 0"/>
      <geometry>
        <cylinder length="0.017" radius="0.009"/>
      </geometry>
      <material name="White">
     </material>
    </visual>
    <collision>
      <origin rpy="0 0 0" xyz="0.0 0.0 0"/>
      <geometry>
        <cylinder length="0.017" radius="0.009"/>
      </geometry>
    </collision>
  </link>
  <gazebo reference="finger1_tip_phalanx_right">
    <material>Gazebo/White</material>
    <turnGravityOff>false</turnGravityOff>
  </gazebo>
  <link name="finger2_right">
    <inertial>
      <origin rpy="0 0 0" xyz="0.0 0.0 -0.03"/>
      <mass value="0.01"/>
      <inertia ixx="0.01" ixy="0" ixz="0" iyy="0.01" iyz="0" izz="0.01"/>
    </inertial>
    <visual>
      <origin rpy="0 0 0" xyz="0.0 0.0 -0.03"/>
      <geometry>
        <box size="0.018 0.018 0.06"/>
      </geometry>
      <material name="Black">
     </material>
    </visual>
    <collision>
      <origin rpy="0 0 0" xyz="0.0 0.0 -0.03"/>
      <geometry>
        <box size="0.018 0.018 0.06"/>
      </geometry>
    </collision>
  </link>
  <gazebo reference="finger2_right">
    <material>Gazebo/Black</material>
    <turnGravityOff>false</turnGravityOff>
  </gazebo>
  <gazebo reference="finger2_right">
    <mu1 value="100.0"/>
    <mu2 value="100.0"/>
  </gazebo>
  <link name="finger2_phalanx_right">
    <inertial>
      <origin rpy="0 0 0" xyz="0.0 0.0 0"/>
      <mass value="0.01"/>
      <inertia ixx="0.001" ixy="0" ixz="0" iyy="0.001" iyz="0" izz="0.001"/>
    </inertial>
    <visual>
      <origin rpy="0 0 0" xyz="0.0 0.0 0"/>
      <geometry>
        <cylinder length="0.019" radius="0.009"/>
      </geometry>
      <material name="White">
     </material>
    </visual>
    <collision>
      <origin rpy="0 0 0" xyz="0.0 0.0 0"/>
      <geometry>
        <cylinder length="0.019" radius="0.009"/>
      </geometry>
    </collision>
  </link>
  <gazebo reference="finger2_phalanx_right">
    <material>Gazebo/White</material>
    <turnGravityOff>false</turnGravityOff>
  </gazebo>
  <link name="finger2_tip_right">
    <inertial>
      <origin rpy="0 0 0" xyz="0.0 0.0 -0.03"/>
      <mass value="0.01"/>
      <inertia ixx="0.00037" ixy="0" ixz="0" iyy="0.00052" iyz="0" izz="0.00052"/>
    </inertial>
    <visual>
      <origin rpy="0 0 0" xyz="0.0 0.0 -0.03"/>
      <geometry>
        <box size="0.018 0.018 0.06"/>
      </geometry>
      <material name="Black">
     </material>
    </visual>
    <collision>
      <origin rpy="0 0 0" xyz="0.0 0.0 -0.03"/>
      <geometry>
        <box size="0.018 0.018 0.06"/>
      </geometry>
    </collision>
  </link>
  <gazebo reference="finger2_tip_right">
    <material>Gazebo/Black</material>
    <turnGravityOff>false</turnGravityOff>
  </gazebo>
  <gazebo reference="finger2_tip_right">
    <mu1 value="100.0"/>
    <mu2 value="100.0"/>
  </gazebo>
  <link name="finger2_tip_phalanx_right">
    <inertial>
      <origin rpy="0 0 0" xyz="0.0 0.0 0"/>
      <mass value="0.01"/>
      <inertia ixx="0.001" ixy="0" ixz="0" iyy="0.001" iyz="0" izz="0.001"/>
    </inertial>
    <visual>
      <origin rpy="0 0 0" xyz="0.0 0.0 0"/>
      <geometry>
        <cylinder length="0.017" radius="0.009"/>
      </geometry>
      <material name="White">
     </material>
    </visual>
    <collision>
      <origin rpy="0 0 0" xyz="0.0 0.0 0"/>
      <geometry>
        <cylinder length="0.017" radius="0.009"/>
      </geometry>
    </collision>
  </link>
  <gazebo reference="finger2_tip_phalanx_right">
    <material>Gazebo/White</material>
    <turnGravityOff>false</turnGravityOff>
  </gazebo>
  <link name="grippoint_right">
    <inertial>
      <origin rpy="0 0 0" xyz="-0.1 0.0 0.0"/>
      <mass value="0.01"/>
      <inertia ixx="0.0001" ixy="0" ixz="0" iyy="0.0001" iyz="0" izz="0.0001"/>
    </inertial>
    <visual>
      <origin rpy="0 0 0 " xyz="-0.1 0.0 0.0"/>
      <geometry>
        <box size="0.0 0.0 0.0"/>
      </geometry>
      <material name="Blue">
     </material>
    </visual>
    <collision>
      <origin rpy="0 0 0 " xyz="-0.1 0.0 0.0"/>
      <geometry>
        <box size="0.0 0.0 0.0"/>
      </geometry>
    </collision>
  </link>
  <gazebo reference="grippoint_right">
    <material>Gazebo/Blue</material>
    <turnGravityOff>false</turnGravityOff>
  </gazebo>
  <joint name="shoulder_mount_joint_right" type="fixed">
    <parent link="torso"/>
    <child link="shoulder_mount_right"/>
    <origin rpy="0 0 0.0" xyz="0.05 0.22 0.0"/>
  </joint>
  <joint name="shoulder_yaw_joint_right" type="revolute">
    <parent link="shoulder_mount_right"/>
    <child link="shoulder_link1_right"/>
    <origin rpy="-1.5708 -1.5708 0" xyz="0 0 0"/>
    <axis xyz="+1 0 0"/>
    <dynamics damping="4.0" friction="4.87"/>
    <limit effort="13.4" lower="-1.57" upper="0.0" velocity="1.0"/>
  </joint>
  <joint name="shoulder_pitch_joint_right" type="revolute">
    <parent link="shoulder_link1_right"/>
    <child link="shoulder_link2_right"/>
    <origin rpy="-1.5708  0 0" xyz="0.0 0.0 0.0"/>
    <axis xyz="0 -1 0"/>
    <dynamics damping="4.0" friction="6.06"/>
    <limit effort="13.4" lower="-1.57" upper="1.57" velocity="1.0"/>
  </joint>
  <joint name="shoulder_roll_joint_right" type="revolute">
    <parent link="shoulder_link2_right"/>
    <child link="upper_arm_right"/>
    <origin rpy="1.5708 0 0.0" xyz="0.0 0.0 0.0"/>
    <axis xyz="0 1.0 0"/>
    <dynamics damping="3.8" friction="2.216"/>
    <limit effort="9.8" lower="-1.57" upper="1.57" velocity="1.0"/>
  </joint>
  <joint name="elbow_pitch_joint_right" type="revolute">
    <parent link="upper_arm_right"/>
    <child link="elbow_link4_right"/>
    <origin rpy="-1.5708 0 0" xyz="0.01 -0.32 0.0"/>
    <axis xyz="0 -1 0"/>
    <dynamics damping="3" friction="1.18"/>
    <limit effort="4.5" lower="0.0" upper="2.23" velocity="1.0"/>
  </joint>
  <joint name="elbow_roll_joint_right" type="revolute">
    <parent link="elbow_link4_right"/>
    <child link="fore_arm_right"/>
    <origin rpy="1.5708 0 0" xyz="0.0 0.0 0.0"/>
    <axis xyz="0 1.0 0"/>
    <dynamics damping="3.5" friction="1.35"/>
    <limit effort="4.5" lower="-1.83" upper="1.83" velocity="1.0"/>
  </joint>
  <joint name="wrist_pitch_joint_right" type="revolute">
    <parent link="fore_arm_right"/>
    <child link="wrist_link6_right"/>
    <origin rpy="-1.5708 0 -1.5708" xyz="0.01 -0.28 0.0"/>
    <axis xyz="0 -1 0"/>
    <dynamics damping="0.35" friction="0.63"/>
    <limit effort="1" lower="-0.95" upper="0.95" velocity="1.0"/>
  </joint>
  <joint name="wrist_yaw_joint_right" type="revolute">
    <parent link="wrist_link6_right"/>
    <child link="hand_right"/>
    <origin rpy="0 0 0" xyz="0.0 0.0 0.0"/>
    <axis xyz="0 0 1.01"/>
    <dynamics damping="0.3" friction="0.68"/>
    <limit effort="1" lower="-0.61" upper="0.61" velocity="1.0"/>
  </joint>
  <joint name="finger1_joint_right" type="revolute">
    <parent link="hand_right"/>
    <child link="finger1_right"/>
    <origin rpy="0 -1.57 0" xyz=" 0.075 0.02 0"/>
    <axis xyz="1 0 0"/>
    <dynamics damping="0.5" friction="1.0"/>
    <limit effort="3" lower="0.2" upper="1" velocity="1.0"/>
  </joint>
  <joint name="finger1_phalanx_joint_right" type="fixed">
    <parent link="finger1_right"/>
    <child link="finger1_phalanx_right"/>
    <origin rpy="0 1.57 0" xyz="0 0 -0.06"/>
  </joint>
  <joint name="finger1_tip_joint_right" type="revolute">
    <parent link="finger1_right"/>
    <child link="finger1_tip_right"/>
    <origin rpy="0 0 0" xyz=" 0 0.0 -0.06"/>
    <axis xyz="1 0 0"/>
    <dynamics damping="0.5" friction="1.0"/>
    <limit effort="3" lower="-0.6" upper="-0.2" velocity="1.0"/>
  </joint>
  <joint name="finger1_tip_phalanx_joint_right" type="fixed">
    <parent link="finger1_tip_right"/>
    <child link="finger1_tip_phalanx_right"/>
    <origin rpy="0 1.57 0" xyz="0 0 -0.06"/>
  </joint>
  <joint name="finger2_joint_right" type="revolute">
    <parent link="hand_right"/>
    <child link="finger2_right"/>
    <origin rpy="0 -1.57 0" xyz="0.075 -0.02 0"/>
    <axis xyz="-1 0 0"/>
    <dynamics damping="0.5" friction="1.0"/>
    <limit effort="3" lower="0.2" upper="1" velocity="1.0"/>
  </joint>
  <joint name="finger2_phalanx_joint_right" type="fixed">
    <parent link="finger2_right"/>
    <child link="finger2_phalanx_right"/>
    <origin rpy="0 1.57 0" xyz="0 0 -0.06"/>
  </joint>
  <joint name="finger2_tip_joint_right" type="revolute">
    <parent link="finger2_right"/>
    <child link="finger2_tip_right"/>
    <origin rpy="0 0 0" xyz="0 0 -0.06"/>
    <axis xyz="-1 0 0"/>
    <dynamics damping="0.5" friction="1.0"/>
    <limit effort="3" lower="-0.6" upper="-0.2" velocity="1.0"/>
  </joint>
  <joint name="finger2_tip_phalanx_joint_right" type="fixed">
    <parent link="finger2_tip_right"/>
    <child link="finger2_tip_phalanx_right"/>
    <origin rpy="0 1.57 0" xyz="0 0 -0.06"/>
  </joint>
  <joint name="grippoint_joint_right" type="fixed">
    <parent link="hand_right"/>
    <child link="grippoint_right"/>
    <origin rpy="0 0 0" xyz="0.14 0.0 0.0"/>
  </joint>
  <link name="shoulder_mount_left">
    <inertial>
      <origin rpy="0 0 0" xyz="0.0 0.0 0.0"/>
      <mass value="0.15"/>
      <inertia ixx="0.01" ixy="0" ixz="0" iyy="0.01" iyz="0" izz="0.01"/>
    </inertial>
    <visual>
      <origin rpy="0 0 0 " xyz="0.0 0.0 0.0"/>
      <geometry>
        <cylinder length="0.11" radius="0.05"/>
      </geometry>
      <material name="Black">
     </material>
    </visual>
    <collision>
      <origin rpy="0 0 0 " xyz="0.0 0.0 0.0"/>
      <geometry>
        <cylinder length="0.11" radius="0.05"/>
      </geometry>
    </collision>
  </link>
  <gazebo reference="shoulder_mount_left">
    <material>Gazebo/Black</material>
    <turnGravityOff>false</turnGravityOff>
  </gazebo>
  <link name="shoulder_link1_left">
    <inertial>
      <origin rpy="0 0 0" xyz="0.0 0.0 0.0"/>
      <mass value="0.25"/>
      <inertia ixx="6.0" ixy="0" ixz="0" iyy="0.01" iyz="0" izz="0.01"/>
    </inertial>
    <visual>
      <origin rpy="0 0 0 " xyz="0.0 0.0 -0.0525"/>
      <geometry>
        <cylinder length="0.015" radius="0.045"/>
      </geometry>
      <material name="Black">
     </material>
    </visual>
    <collision>
      <origin rpy="0 0 0 " xyz="0.0 0.0 -0.0525"/>
      <geometry>
        <cylinder length="0.015" radius="0.045"/>
      </geometry>
    </collision>
  </link>
  <gazebo reference="shoulder_link1_left">
    <material>Gazebo/Black</material>
    <turnGravityOff>false</turnGravityOff>
  </gazebo>
  <link name="shoulder_link2_left">
    <inertial>
      <origin rpy="0 0 0" xyz="0.0 0.0 0.0"/>
      <mass value="0.15"/>
      <inertia ixx="0.01" ixy="0" ixz="0" iyy="4.04" iyz="0" izz="0.001"/>
    </inertial>
    <visual>
      <origin rpy="0 0 0" xyz="0.0 0.06 -0.05"/>
      <geometry>
        <box size="0.035 0.01 0.1"/>
      </geometry>
      <material name="Black">
     </material>
    </visual>
    <collision>
      <origin rpy="0 0 0" xyz="0.0 0.06 -0.05"/>
      <geometry>
        <box size="0.035 0.01 0.1"/>
      </geometry>
    </collision>
  </link>
  <gazebo reference="shoulder_link2_left">
    <material>Gazebo/Black</material>
    <turnGravityOff>false</turnGravityOff>
  </gazebo>
  <link name="upper_arm_left">
    <inertial>
      <origin rpy="0 0 0" xyz="0.0 -0.2 0.0"/>
      <mass value="2.95"/>
      <inertia ixx="0.027" ixy="0" ixz="0" iyy="0.45993" iyz="0" izz="0.004"/>
    </inertial>
    <visual>
      <origin rpy="0 0 3.1415" xyz="-0.00959 -0.19131 -0.00001"/>
      <geometry>
        <mesh filename="package://amigo_description/media/meshes/upperarmtextured.dae" scale="0.0004 0.0004 0.0004"/>
      </geometry>
      <material name="amigo_description/white"/>
    </visual>
    <collision>
      <origin rpy="0 0 3.1415" xyz="-0.00959 -0.19131 -0.00001"/>
      <geometry>
        <mesh filename="package://amigo_description/media/meshes/upperarmtextured.dae" scale="0.0004 0.0004 0.0004"/>
      </geometry>
    </collision>
  </link>
  <gazebo reference="upper_arm_left">
    <material>amigo_description/white</material>
    <turnGravityOff>false</turnGravityOff>
  </gazebo>
  <link name="elbow_link4_left">
    <inertial>
      <origin rpy="0 0 0" xyz="0.0 0.0 0.0"/>
      <mass value="0.1"/>
      <inertia ixx="0.001" ixy="0" ixz="0" iyy="0.6" iyz="0" izz="0.001"/>
    </inertial>
    <visual>
      <origin rpy="0 0 0" xyz="0.0 0.0 0.0"/>
      <geometry>
        <cylinder length="0.0" radius="0.0"/>
      </geometry>
      <material name="Grey">
     </material>
    </visual>
    <collision>
      <origin rpy="0 0 0" xyz="0.0 0.0 0.0"/>
      <geometry>
        <cylinder length="0.0" radius="0.0"/>
      </geometry>
    </collision>
  </link>
  <gazebo reference="elbow_link4_left">
    <material>Gazebo/Grey</material>
    <turnGravityOff>false</turnGravityOff>
  </gazebo>
  <link name="fore_arm_left">
    <inertial>
      <origin rpy="0.0 0 0" xyz="0.0 -0.14 0.0"/>
      <mass value="0.85"/>
      <inertia ixx="0.001" ixy="0" ixz="0" iyy="0.5" iyz="0" izz="0.001"/>
    </inertial>
    <visual>
      <origin rpy="0 -1.5708 0" xyz="0.00425 -0.14868 0.00547"/>
      <geometry>
        <mesh filename="package://amigo_description/media/meshes/forearmtextured.dae" scale="0.0004 0.0004 0.0004"/>
      </geometry>
      <material name="amigo_description/white"/>
    </visual>
    <collision>
      <origin rpy="0 -1.5708 0" xyz="0.00425 -0.14868 0.00547"/>
      <geometry>
        <mesh filename="package://amigo_description/media/meshes/forearmtextured.dae" scale="0.0004 0.0004 0.0004"/>
      </geometry>
    </collision>
  </link>
  <gazebo reference="fore_arm_left">
    <material>amigo_description/white</material>
    <turnGravityOff>false</turnGravityOff>
  </gazebo>
  <link name="wrist_link6_left">
    <inertial>
      <origin rpy="0 0 0" xyz="0.0 0.0 0.0"/>
      <mass value="0.01"/>
      <inertia ixx="0.001" ixy="0" ixz="0" iyy="0.03322" iyz="0" izz="0.001"/>
    </inertial>
    <visual>
      <origin rpy="1.5708 0 0" xyz="0.0 0.0 0.0"/>
      <geometry>
        <cylinder length="0.0" radius="0.0"/>
      </geometry>
      <material name="Black">
     </material>
    </visual>
    <collision>
      <origin rpy="1.5708 0 0" xyz="0.0 0.0 0.0"/>
      <geometry>
        <cylinder length="0.0" radius="0.0"/>
      </geometry>
    </collision>
  </link>
  <gazebo reference="wrist_link6_left">
    <material>Gazebo/Black</material>
    <turnGravityOff>false</turnGravityOff>
  </gazebo>
  <link name="hand_left">
    <inertial>
      <origin rpy="0 0 0" xyz="0.048 0.0 0.0"/>
      <mass value="0.2"/>
      <inertia ixx="0.01" ixy="0" ixz="0" iyy="0.01" iyz="0" izz="0.0622"/>
    </inertial>
    <visual>
      <origin rpy="0 0 0" xyz="0.048 0.0 0.0"/>
      <geometry>
        <box size="0.080 0.085 0.038"/>
      </geometry>
      <material name="Grey">
     </material>
    </visual>
    <collision>
      <origin rpy="0 0 0" xyz="0.048 0.0 0.0"/>
      <geometry>
        <box size="0.080 0.085 0.038"/>
      </geometry>
    </collision>
  </link>
  <gazebo reference="hand_left">
    <material>Gazebo/Grey</material>
    <turnGravityOff>false</turnGravityOff>
  </gazebo>
  <link name="finger1_left">
    <inertial>
      <origin rpy="0 0 0" xyz="0.0 0.0 -0.03"/>
      <mass value="0.01"/>
      <inertia ixx="0.01" ixy="0" ixz="0" iyy="0.01" iyz="0" izz="0.01"/>
    </inertial>
    <visual>
      <origin rpy="0 0 0" xyz="0.0 0.0 -0.03"/>
      <geometry>
        <box size="0.018 0.018 0.06"/>
      </geometry>
      <material name="Black">
     </material>
    </visual>
    <collision>
      <origin rpy="0 0 0" xyz="0.0 0.0 -0.03"/>
      <geometry>
        <box size="0.018 0.018 0.06"/>
      </geometry>
    </collision>
  </link>
  <gazebo reference="finger1_left">
    <material>Gazebo/Black</material>
    <turnGravityOff>false</turnGravityOff>
  </gazebo>
  <gazebo reference="finger1_left">
    <mu1 value="100.0"/>
    <mu2 value="100.0"/>
  </gazebo>
  <link name="finger1_phalanx_left">
    <inertial>
      <origin rpy="0 0 0" xyz="0.0 0.0 0"/>
      <mass value="0.01"/>
      <inertia ixx="0.001" ixy="0" ixz="0" iyy="0.001" iyz="0" izz="0.001"/>
    </inertial>
    <visual>
      <origin rpy="0 0 0" xyz="0.0 0.0 0"/>
      <geometry>
        <cylinder length="0.019" radius="0.009"/>
      </geometry>
      <material name="White">
     </material>
    </visual>
    <collision>
      <origin rpy="0 0 0" xyz="0.0 0.0 0"/>
      <geometry>
        <cylinder length="0.019" radius="0.009"/>
      </geometry>
    </collision>
  </link>
  <gazebo reference="finger1_phalanx_left">
    <material>Gazebo/White</material>
    <turnGravityOff>false</turnGravityOff>
  </gazebo>
  <link name="finger1_tip_left">
    <inertial>
      <origin rpy="0 0 0" xyz="0.0 0.0 -0.03"/>
      <mass value="0.01"/>
      <inertia ixx="0.00037" ixy="0" ixz="0" iyy="0.00052" iyz="0" izz="0.00052"/>
    </inertial>
    <visual>
      <origin rpy="0 0 0" xyz="0.0 0.0 -0.03"/>
      <geometry>
        <box size="0.018 0.018 0.06"/>
      </geometry>
      <material name="Black">
     </material>
    </visual>
    <collision>
      <origin rpy="0 0 0" xyz="0.0 0.0 -0.03"/>
      <geometry>
        <box size="0.018 0.018 0.06"/>
      </geometry>
    </collision>
  </link>
  <gazebo reference="finger1_tip_left">
    <material>Gazebo/Black</material>
    <turnGravityOff>false</turnGravityOff>
  </gazebo>
  <gazebo reference="finger1_tip_left">
    <mu1 value="100.0"/>
    <mu2 value="100.0"/>
  </gazebo>
  <link name="finger1_tip_phalanx_left">
    <inertial>
      <origin rpy="0 0 0" xyz="0.0 0.0 0"/>
      <mass value="0.01"/>
      <inertia ixx="0.001" ixy="0" ixz="0" iyy="0.001" iyz="0" izz="0.001"/>
    </inertial>
    <visual>
      <origin rpy="0 0 0" xyz="0.0 0.0 0"/>
      <geometry>
        <cylinder length="0.017" radius="0.009"/>
      </geometry>
      <material name="White">
     </material>
    </visual>
    <collision>
      <origin rpy="0 0 0" xyz="0.0 0.0 0"/>
      <geometry>
        <cylinder length="0.017" radius="0.009"/>
      </geometry>
    </collision>
  </link>
  <gazebo reference="finger1_tip_phalanx_left">
    <material>Gazebo/White</material>
    <turnGravityOff>false</turnGravityOff>
  </gazebo>
  <link name="finger2_left">
    <inertial>
      <origin rpy="0 0 0" xyz="0.0 0.0 -0.03"/>
      <mass value="0.01"/>
      <inertia ixx="0.01" ixy="0" ixz="0" iyy="0.01" iyz="0" izz="0.01"/>
    </inertial>
    <visual>
      <origin rpy="0 0 0" xyz="0.0 0.0 -0.03"/>
      <geometry>
        <box size="0.018 0.018 0.06"/>
      </geometry>
      <material name="Black">
     </material>
    </visual>
    <collision>
      <origin rpy="0 0 0" xyz="0.0 0.0 -0.03"/>
      <geometry>
        <box size="0.018 0.018 0.06"/>
      </geometry>
    </collision>
  </link>
  <gazebo reference="finger2_left">
    <material>Gazebo/Black</material>
    <turnGravityOff>false</turnGravityOff>
  </gazebo>
  <gazebo reference="finger2_left">
    <mu1 value="100.0"/>
    <mu2 value="100.0"/>
  </gazebo>
  <link name="finger2_phalanx_left">
    <inertial>
      <origin rpy="0 0 0" xyz="0.0 0.0 0"/>
      <mass value="0.01"/>
      <inertia ixx="0.001" ixy="0" ixz="0" iyy="0.001" iyz="0" izz="0.001"/>
    </inertial>
    <visual>
      <origin rpy="0 0 0" xyz="0.0 0.0 0"/>
      <geometry>
        <cylinder length="0.019" radius="0.009"/>
      </geometry>
      <material name="White">
     </material>
    </visual>
    <collision>
      <origin rpy="0 0 0" xyz="0.0 0.0 0"/>
      <geometry>
        <cylinder length="0.019" radius="0.009"/>
      </geometry>
    </collision>
  </link>
  <gazebo reference="finger2_phalanx_left">
    <material>Gazebo/White</material>
    <turnGravityOff>false</turnGravityOff>
  </gazebo>
  <link name="finger2_tip_left">
    <inertial>
      <origin rpy="0 0 0" xyz="0.0 0.0 -0.03"/>
      <mass value="0.01"/>
      <inertia ixx="0.00037" ixy="0" ixz="0" iyy="0.00052" iyz="0" izz="0.00052"/>
    </inertial>
    <visual>
      <origin rpy="0 0 0" xyz="0.0 0.0 -0.03"/>
      <geometry>
        <box size="0.018 0.018 0.06"/>
      </geometry>
      <material name="Black">
     </material>
    </visual>
    <collision>
      <origin rpy="0 0 0" xyz="0.0 0.0 -0.03"/>
      <geometry>
        <box size="0.018 0.018 0.06"/>
      </geometry>
    </collision>
  </link>
  <gazebo reference="finger2_tip_left">
    <material>Gazebo/Black</material>
    <turnGravityOff>false</turnGravityOff>
  </gazebo>
  <gazebo reference="finger2_tip_left">
    <mu1 value="100.0"/>
    <mu2 value="100.0"/>
  </gazebo>
  <link name="finger2_tip_phalanx_left">
    <inertial>
      <origin rpy="0 0 0" xyz="0.0 0.0 0"/>
      <mass value="0.01"/>
      <inertia ixx="0.001" ixy="0" ixz="0" iyy="0.001" iyz="0" izz="0.001"/>
    </inertial>
    <visual>
      <origin rpy="0 0 0" xyz="0.0 0.0 0"/>
      <geometry>
        <cylinder length="0.017" radius="0.009"/>
      </geometry>
      <material name="White">
     </material>
    </visual>
    <collision>
      <origin rpy="0 0 0" xyz="0.0 0.0 0"/>
      <geometry>
        <cylinder length="0.017" radius="0.009"/>
      </geometry>
    </collision>
  </link>
  <gazebo reference="finger2_tip_phalanx_left">
    <material>Gazebo/White</material>
    <turnGravityOff>false</turnGravityOff>
  </gazebo>
  <link name="grippoint_left">
    <inertial>
      <origin rpy="0 0 0" xyz="-0.1 0.0 0.0"/>
      <mass value="0.01"/>
      <inertia ixx="0.0001" ixy="0" ixz="0" iyy="0.0001" iyz="0" izz="0.0001"/>
    </inertial>
    <visual>
      <origin rpy="0 0 0 " xyz="-0.1 0.0 0.0"/>
      <geometry>
        <box size="0.0 0.0 0.0"/>
      </geometry>
      <material name="Blue">
     </material>
    </visual>
    <collision>
      <origin rpy="0 0 0 " xyz="-0.1 0.0 0.0"/>
      <geometry>
        <box size="0.0 0.0 0.0"/>
      </geometry>
    </collision>
  </link>
  <gazebo reference="grippoint_left">
    <material>Gazebo/Blue</material>
    <turnGravityOff>false</turnGravityOff>
  </gazebo>
  <joint name="shoulder_mount_joint_left" type="fixed">
    <parent link="torso"/>
    <child link="shoulder_mount_left"/>
    <origin rpy="0 0 0.0" xyz="0.05 -0.22 0.0"/>
  </joint>
  <joint name="shoulder_yaw_joint_left" type="revolute">
    <parent link="shoulder_mount_left"/>
    <child link="shoulder_link1_left"/>
    <origin rpy="-1.5708 -1.5708 0" xyz="0 0 0"/>
    <axis xyz="-1 0 0"/>
    <dynamics damping="4.0" friction="4.87"/>
    <limit effort="13.4" lower="-1.57" upper="0.0" velocity="1.0"/>
  </joint>
  <joint name="shoulder_pitch_joint_left" type="revolute">
    <parent link="shoulder_link1_left"/>
    <child link="shoulder_link2_left"/>
    <origin rpy="-1.5708  0 0" xyz="0.0 0.0 0.0"/>
    <axis xyz="0 -1 0"/>
    <dynamics damping="4.0" friction="6.06"/>
    <limit effort="13.4" lower="-1.57" upper="1.57" velocity="1.0"/>
  </joint>
  <joint name="shoulder_roll_joint_left" type="revolute">
    <parent link="shoulder_link2_left"/>
    <child link="upper_arm_left"/>
    <origin rpy="1.5708 0 0.0" xyz="0.0 0.0 0.0"/>
    <axis xyz="0 -1.0 0"/>
    <dynamics damping="3.8" friction="2.216"/>
    <limit effort="9.8" lower="-1.57" upper="1.57" velocity="1.0"/>
  </joint>
  <joint name="elbow_pitch_joint_left" type="revolute">
    <parent link="upper_arm_left"/>
    <child link="elbow_link4_left"/>
    <origin rpy="-1.5708 0 0" xyz="0.01 -0.32 0.0"/>
    <axis xyz="0 -1 0"/>
    <dynamics damping="3" friction="1.18"/>
    <limit effort="4.5" lower="0.0" upper="2.23" velocity="1.0"/>
  </joint>
  <joint name="elbow_roll_joint_left" type="revolute">
    <parent link="elbow_link4_left"/>
    <child link="fore_arm_left"/>
    <origin rpy="1.5708 0 0" xyz="0.0 0.0 0.0"/>
    <axis xyz="0 -1.0 0"/>
    <dynamics damping="3.5" friction="1.35"/>
    <limit effort="4.5" lower="-1.83" upper="1.83" velocity="1.0"/>
  </joint>
  <joint name="wrist_pitch_joint_left" type="revolute">
    <parent link="fore_arm_left"/>
    <child link="wrist_link6_left"/>
    <origin rpy="-1.5708 0 -1.5708" xyz="0.01 -0.28 0.0"/>
    <axis xyz="0 -1 0"/>
    <dynamics damping="0.35" friction="0.63"/>
    <limit effort="1" lower="-0.95" upper="0.95" velocity="1.0"/>
  </joint>
  <joint name="wrist_yaw_joint_left" type="revolute">
    <parent link="wrist_link6_left"/>
    <child link="hand_left"/>
    <origin rpy="0 0 0" xyz="0.0 0.0 0.0"/>
    <axis xyz="0 0 -1.01"/>
    <dynamics damping="0.3" friction="0.68"/>
    <limit effort="1" lower="-0.61" upper="0.61" velocity="1.0"/>
  </joint>
  <joint name="finger1_joint_left" type="revolute">
    <parent link="hand_left"/>
    <child link="finger1_left"/>
    <origin rpy="0 -1.57 0" xyz=" 0.075 0.02 0"/>
    <axis xyz="1 0 0"/>
    <dynamics damping="0.5" friction="1.0"/>
    <limit effort="3" lower="0.2" upper="1" velocity="1.0"/>
  </joint>
  <joint name="finger1_phalanx_joint_left" type="fixed">
    <parent link="finger1_left"/>
    <child link="finger1_phalanx_left"/>
    <origin rpy="0 1.57 0" xyz="0 0 -0.06"/>
  </joint>
  <joint name="finger1_tip_joint_left" type="revolute">
    <parent link="finger1_left"/>
    <child link="finger1_tip_left"/>
    <origin rpy="0 0 0" xyz=" 0 0.0 -0.06"/>
    <axis xyz="1 0 0"/>
    <dynamics damping="0.5" friction="1.0"/>
    <limit effort="3" lower="-0.6" upper="-0.2" velocity="1.0"/>
  </joint>
  <joint name="finger1_tip_phalanx_joint_left" type="fixed">
    <parent link="finger1_tip_left"/>
    <child link="finger1_tip_phalanx_left"/>
    <origin rpy="0 1.57 0" xyz="0 0 -0.06"/>
  </joint>
  <joint name="finger2_joint_left" type="revolute">
    <parent link="hand_left"/>
    <child link="finger2_left"/>
    <origin rpy="0 -1.57 0" xyz="0.075 -0.02 0"/>
    <axis xyz="-1 0 0"/>
    <dynamics damping="0.5" friction="1.0"/>
    <limit effort="3" lower="0.2" upper="1" velocity="1.0"/>
  </joint>
  <joint name="finger2_phalanx_joint_left" type="fixed">
    <parent link="finger2_left"/>
    <child link="finger2_phalanx_left"/>
    <origin rpy="0 1.57 0" xyz="0 0 -0.06"/>
  </joint>
  <joint name="finger2_tip_joint_left" type="revolute">
    <parent link="finger2_left"/>
    <child link="finger2_tip_left"/>
    <origin rpy="0 0 0" xyz="0 0 -0.06"/>
    <axis xyz="-1 0 0"/>
    <dynamics damping="0.5" friction="1.0"/>
    <limit effort="3" lower="-0.6" upper="-0.2" velocity="1.0"/>
  </joint>
  <joint name="finger2_tip_phalanx_joint_left" type="fixed">
    <parent link="finger2_tip_left"/>
    <child link="finger2_tip_phalanx_left"/>
    <origin rpy="0 1.57 0" xyz="0 0 -0.06"/>
  </joint>
  <joint name="grippoint_joint_left" type="fixed">
    <parent link="hand_left"/>
    <child link="grippoint_left"/>
    <origin rpy="0 0 0" xyz="0.14 0.0 0.0"/>
  </joint>
  <!--extra arm visuals-->
  <author>Kris van Tienhoven</author>
  <license>BSD</license>
  <review notes="" status="unreviewed"/>
  <link name="upper_arm_top_right">
    <inertial>
      <origin rpy="0 0 0" xyz="0.0 0.0 0.0"/>
      <mass value="0.01"/>
      <inertia ixx="0.027" ixy="0" ixz="0" iyy="0.027" iyz="0" izz="0.004"/>
    </inertial>
    <visual>
      <origin rpy="0 0 0" xyz="0.0 0.0 0.0"/>
      <geometry>
        <cylinder length="0.02" radius="0.0561"/>
      </geometry>
      <material name="Black">
     </material>
    </visual>
    <collision>
      <origin rpy="0 0 0" xyz="0.0 0.0 0.0"/>
      <geometry>
        <cylinder length="0.02" radius="0.0561"/>
      </geometry>
    </collision>
  </link>
  <gazebo reference="upper_arm_top_right">
    <material>Gazebo/Black</material>
    <turnGravityOff>false</turnGravityOff>
  </gazebo>
  <link name="elbow_extra_block_right">
    <inertial>
      <origin rpy="0 0 0" xyz="0.0 0.0 0.0"/>
      <mass value="0.01"/>
      <inertia ixx="0.001" ixy="0" ixz="0" iyy="0.001" iyz="0" izz="0.001"/>
    </inertial>
    <visual>
      <origin rpy="0 0 0" xyz="-0.036 0.0 0.02"/>
      <geometry>
        <box size="0.015 0.08 0.06"/>
      </geometry>
      <material name="Black">
     </material>
    </visual>
    <collision>
      <origin rpy="0 0 0" xyz="-0.036 0.0 0.02"/>
      <geometry>
        <box size="0.015 0.08 0.06"/>
      </geometry>
    </collision>
  </link>
  <gazebo reference="elbow_extra_block_right">
    <material>Gazebo/Black</material>
    <turnGravityOff>false</turnGravityOff>
  </gazebo>
  <link name="elbow_extra_block2_right">
    <inertial>
      <origin rpy="0 0 0" xyz="0.0 0.0 0.0"/>
      <mass value="0.01"/>
      <inertia ixx="0.001" ixy="0" ixz="0" iyy="0.001" iyz="0" izz="0.001"/>
    </inertial>
    <visual>
      <origin rpy="1.5708 0 0" xyz="0.0 0.0 0.0"/>
      <geometry>
        <cylinder length="0.08" radius="0.03"/>
      </geometry>
      <material name="Grey">
     </material>
    </visual>
    <collision>
      <origin rpy="1.5708 0 0" xyz="0.0 0.0 0.0"/>
      <geometry>
        <cylinder length="0.08" radius="0.03"/>
      </geometry>
    </collision>
  </link>
  <gazebo reference="elbow_extra_block2_right">
    <material>Gazebo/Grey</material>
    <turnGravityOff>false</turnGravityOff>
  </gazebo>
  <link name="fore_arm_top_right">
    <inertial>
      <origin rpy="0 0 0" xyz="0.0 0.0 0.0"/>
      <mass value="0.01"/>
      <inertia ixx="0.0054" ixy="0" ixz="0" iyy="0.0054" iyz="0" izz="0.0004"/>
    </inertial>
    <visual>
      <origin rpy="0 0 0" xyz="0.0 0.0 0.01"/>
      <geometry>
        <cylinder length="0.01" radius="0.037"/>
      </geometry>
      <material name="Black">
     </material>
    </visual>
    <collision>
      <origin rpy="0 0 0" xyz="0.0 0.0 0.01"/>
      <geometry>
        <cylinder length="0.01" radius="0.037"/>
      </geometry>
    </collision>
  </link>
  <gazebo reference="fore_arm_top_right">
    <material>Gazebo/Black</material>
    <turnGravityOff>false</turnGravityOff>
  </gazebo>
  <link name="wrist_visual_right">
    <inertial>
      <origin rpy="0 0 0" xyz="0.0 0.0 0.0"/>
      <mass value="0.01"/>
      <inertia ixx="0.001" ixy="0" ixz="0" iyy="0.001" iyz="0" izz="0.001"/>
    </inertial>
    <visual>
      <origin rpy="0 0 0" xyz="0.0 0.0 0.0"/>
      <geometry>
        <cylinder length="0.06" radius="0.018"/>
      </geometry>
      <material name="Grey">
     </material>
    </visual>
    <collision>
      <origin rpy="0 0 0" xyz="0.0 0.0 0.0"/>
      <geometry>
        <cylinder length="0.06" radius="0.018"/>
      </geometry>
    </collision>
  </link>
  <gazebo reference="wrist_visual_right">
    <material>Gazebo/Grey</material>
    <turnGravityOff>false</turnGravityOff>
  </gazebo>
  <link name="wrist_to_hand_block_right">
    <inertial>
      <origin rpy="0 0 0" xyz="0.0 0.0 0.0"/>
      <mass value="0.01"/>
      <inertia ixx="0.001" ixy="0" ixz="0" iyy="0.001" iyz="0" izz="0.001"/>
    </inertial>
    <visual>
      <origin rpy="0 0 0" xyz="0.0 0.0 0.0"/>
      <geometry>
        <box size="0.03 0.02 0.038"/>
      </geometry>
      <material name="Grey">
     </material>
    </visual>
    <collision>
      <origin rpy="0 0 0" xyz="0.0 0.0 0.0"/>
      <geometry>
        <box size="0.03 0.02 0.038"/>
      </geometry>
    </collision>
  </link>
  <gazebo reference="wrist_to_hand_block_right">
    <material>Gazebo/Grey</material>
    <turnGravityOff>false</turnGravityOff>
  </gazebo>
  <joint name="upper_arm_top_joint_right" type="fixed">
    <parent link="upper_arm_right"/>
    <child link="upper_arm_top_right"/>
    <origin rpy="1.5708 0 0.0" xyz="-0.01 -0.1 0.0"/>
  </joint>
  <joint name="elbow_extra_block_joint_right" type="fixed">
    <parent link="upper_arm_right"/>
    <child link="elbow_extra_block_right"/>
    <origin rpy="-1.5708 0 0" xyz="0.0 -0.31 0.0"/>
  </joint>
  <joint name="elbow_extra_block2_joint_right" type="fixed">
    <parent link="upper_arm_right"/>
    <child link="elbow_extra_block2_right"/>
    <origin rpy="-1.5708 0 0" xyz="0.0 -0.31 0.0"/>
  </joint>
  <joint name="fore_arm_top_joint_right" type="fixed">
    <parent link="fore_arm_right"/>
    <child link="fore_arm_top_right"/>
    <origin rpy="1.5708 0 0" xyz="0.002 -0.011 0.0"/>
  </joint>
  <joint name="wrist_visual_joint_right" type="fixed">
    <parent link="wrist_link6_right"/>
    <child link="wrist_visual_right"/>
    <origin rpy="1.5708 0 0" xyz="-0.02 0.0 0.0"/>
  </joint>
  <joint name="wrist_to_hand_block_joint_right" type="fixed">
    <parent link="wrist_link6_right"/>
    <child link="wrist_to_hand_block_right"/>
    <origin rpy="0 0 0" xyz="0.0 0.0 0.0"/>
  </joint>
  <link name="upper_arm_top_left">
    <inertial>
      <origin rpy="0 0 0" xyz="0.0 0.0 0.0"/>
      <mass value="0.01"/>
      <inertia ixx="0.027" ixy="0" ixz="0" iyy="0.027" iyz="0" izz="0.004"/>
    </inertial>
    <visual>
      <origin rpy="0 0 0" xyz="0.0 0.0 0.0"/>
      <geometry>
        <cylinder length="0.02" radius="0.0561"/>
      </geometry>
      <material name="Black">
     </material>
    </visual>
    <collision>
      <origin rpy="0 0 0" xyz="0.0 0.0 0.0"/>
      <geometry>
        <cylinder length="0.02" radius="0.0561"/>
      </geometry>
    </collision>
  </link>
  <gazebo reference="upper_arm_top_left">
    <material>Gazebo/Black</material>
    <turnGravityOff>false</turnGravityOff>
  </gazebo>
  <link name="elbow_extra_block_left">
    <inertial>
      <origin rpy="0 0 0" xyz="0.0 0.0 0.0"/>
      <mass value="0.01"/>
      <inertia ixx="0.001" ixy="0" ixz="0" iyy="0.001" iyz="0" izz="0.001"/>
    </inertial>
    <visual>
      <origin rpy="0 0 0" xyz="-0.036 0.0 0.02"/>
      <geometry>
        <box size="0.015 0.08 0.06"/>
      </geometry>
      <material name="Black">
     </material>
    </visual>
    <collision>
      <origin rpy="0 0 0" xyz="-0.036 0.0 0.02"/>
      <geometry>
        <box size="0.015 0.08 0.06"/>
      </geometry>
    </collision>
  </link>
  <gazebo reference="elbow_extra_block_left">
    <material>Gazebo/Black</material>
    <turnGravityOff>false</turnGravityOff>
  </gazebo>
  <link name="elbow_extra_block2_left">
    <inertial>
      <origin rpy="0 0 0" xyz="0.0 0.0 0.0"/>
      <mass value="0.01"/>
      <inertia ixx="0.001" ixy="0" ixz="0" iyy="0.001" iyz="0" izz="0.001"/>
    </inertial>
    <visual>
      <origin rpy="1.5708 0 0" xyz="0.0 0.0 0.0"/>
      <geometry>
        <cylinder length="0.08" radius="0.03"/>
      </geometry>
      <material name="Grey">
     </material>
    </visual>
    <collision>
      <origin rpy="1.5708 0 0" xyz="0.0 0.0 0.0"/>
      <geometry>
        <cylinder length="0.08" radius="0.03"/>
      </geometry>
    </collision>
  </link>
  <gazebo reference="elbow_extra_block2_left">
    <material>Gazebo/Grey</material>
    <turnGravityOff>false</turnGravityOff>
  </gazebo>
  <link name="fore_arm_top_left">
    <inertial>
      <origin rpy="0 0 0" xyz="0.0 0.0 0.0"/>
      <mass value="0.01"/>
      <inertia ixx="0.0054" ixy="0" ixz="0" iyy="0.0054" iyz="0" izz="0.0004"/>
    </inertial>
    <visual>
      <origin rpy="0 0 0" xyz="0.0 0.0 0.01"/>
      <geometry>
        <cylinder length="0.01" radius="0.037"/>
      </geometry>
      <material name="Black">
     </material>
    </visual>
    <collision>
      <origin rpy="0 0 0" xyz="0.0 0.0 0.01"/>
      <geometry>
        <cylinder length="0.01" radius="0.037"/>
      </geometry>
    </collision>
  </link>
  <gazebo reference="fore_arm_top_left">
    <material>Gazebo/Black</material>
    <turnGravityOff>false</turnGravityOff>
  </gazebo>
  <link name="wrist_visual_left">
    <inertial>
      <origin rpy="0 0 0" xyz="0.0 0.0 0.0"/>
      <mass value="0.01"/>
      <inertia ixx="0.001" ixy="0" ixz="0" iyy="0.001" iyz="0" izz="0.001"/>
    </inertial>
    <visual>
      <origin rpy="0 0 0" xyz="0.0 0.0 0.0"/>
      <geometry>
        <cylinder length="0.06" radius="0.018"/>
      </geometry>
      <material name="Grey">
     </material>
    </visual>
    <collision>
      <origin rpy="0 0 0" xyz="0.0 0.0 0.0"/>
      <geometry>
        <cylinder length="0.06" radius="0.018"/>
      </geometry>
    </collision>
  </link>
  <gazebo reference="wrist_visual_left">
    <material>Gazebo/Grey</material>
    <turnGravityOff>false</turnGravityOff>
  </gazebo>
  <link name="wrist_to_hand_block_left">
    <inertial>
      <origin rpy="0 0 0" xyz="0.0 0.0 0.0"/>
      <mass value="0.01"/>
      <inertia ixx="0.001" ixy="0" ixz="0" iyy="0.001" iyz="0" izz="0.001"/>
    </inertial>
    <visual>
      <origin rpy="0 0 0" xyz="0.0 0.0 0.0"/>
      <geometry>
        <box size="0.03 0.02 0.038"/>
      </geometry>
      <material name="Grey">
     </material>
    </visual>
    <collision>
      <origin rpy="0 0 0" xyz="0.0 0.0 0.0"/>
      <geometry>
        <box size="0.03 0.02 0.038"/>
      </geometry>
    </collision>
  </link>
  <gazebo reference="wrist_to_hand_block_left">
    <material>Gazebo/Grey</material>
    <turnGravityOff>false</turnGravityOff>
  </gazebo>
  <joint name="upper_arm_top_joint_left" type="fixed">
    <parent link="upper_arm_left"/>
    <child link="upper_arm_top_left"/>
    <origin rpy="1.5708 0 0.0" xyz="-0.01 -0.1 0.0"/>
  </joint>
  <joint name="elbow_extra_block_joint_left" type="fixed">
    <parent link="upper_arm_left"/>
    <child link="elbow_extra_block_left"/>
    <origin rpy="-1.5708 0 0" xyz="0.0 -0.31 0.0"/>
  </joint>
  <joint name="elbow_extra_block2_joint_left" type="fixed">
    <parent link="upper_arm_left"/>
    <child link="elbow_extra_block2_left"/>
    <origin rpy="-1.5708 0 0" xyz="0.0 -0.31 0.0"/>
  </joint>
  <joint name="fore_arm_top_joint_left" type="fixed">
    <parent link="fore_arm_left"/>
    <child link="fore_arm_top_left"/>
    <origin rpy="1.5708 0 0" xyz="0.002 -0.011 0.0"/>
  </joint>
  <joint name="wrist_visual_joint_left" type="fixed">
    <parent link="wrist_link6_left"/>
    <child link="wrist_visual_left"/>
    <origin rpy="1.5708 0 0" xyz="-0.02 0.0 0.0"/>
  </joint>
  <joint name="wrist_to_hand_block_joint_left" type="fixed">
    <parent link="wrist_link6_left"/>
    <child link="wrist_to_hand_block_left"/>
    <origin rpy="0 0 0" xyz="0.0 0.0 0.0"/>
  </joint>
  <!-- GAZEBO -->
  <gazebo>
    <controller:gazebo_ros_controller_manager name="gazebo_ros_controller_manager" plugin="libgazebo_ros_controller_manager.so">
      <alwaysOn>true</alwaysOn>
      <updateRate>1000.0</updateRate>
      <interface:audio name="gazebo_ros_controller_manager_dummy_iface"/>
    </controller:gazebo_ros_controller_manager>
    <controller:gazebo_ros_imu name="imu_controller" plugin="libgazebo_ros_imu.so">
      <alwaysOn>true</alwaysOn>
      <updateRate>1000.0</updateRate>
      <bodyName>base_link</bodyName>
      <topicName>/imu/data</topicName>
      <serviceName>imu_service</serviceName>
      <gaussianNoise>2.89e-08</gaussianNoise>
      <xyzOffset>0 0 0</xyzOffset>
      <rpyOffset>0 0 0</rpyOffset>
      <interface:position name="imu_position_iface"/>
    </controller:gazebo_ros_imu>
  </gazebo>
  <gazebo reference="front_laser">
    <sensor:ray name="front_laser_sensor">
      <origin>0.0 0.0 0.0</origin>
      <rayCount>683</rayCount>
      <rangeCount>683</rangeCount>
      <laserCount>1</laserCount>
      <displayRays>false</displayRays>
      <minAngle>-120</minAngle>
      <maxAngle> 120</maxAngle>
      <minRange>0.05</minRange>
      <maxRange>10.0</maxRange>
      <resRange>0.01</resRange>
      <updateRate>100.0</updateRate>
      <controller:gazebo_ros_laser name="front_laser_sensor_controller" plugin="libgazebo_ros_laser.so">
        <gaussianNoise>0.005</gaussianNoise>
        <alwaysOn>true</alwaysOn>
        <updateRate>15.0</updateRate>
        <topicName>base_scan</topicName>
        <frameName>/front_laser</frameName>
        <hokuyoMinIntensity>101</hokuyoMinIntensity>
        <interface:laser name="front_laser_sensor_iface"/>
      </controller:gazebo_ros_laser>
    </sensor:ray>
  </gazebo>
  <gazebo reference="torso_laser">
    <sensor:ray name="torso_laser_sensor">
      <origin>0.0 0.0 0.0</origin>
      <rayCount>683</rayCount>
      <rangeCount>683</rangeCount>
      <laserCount>1</laserCount>
      <displayRays>false</displayRays>
      <minAngle>-120</minAngle>
      <maxAngle> 120</maxAngle>
      <minRange>0.05</minRange>
      <maxRange>10.0</maxRange>
      <resRange>0.01</resRange>
      <updateRate>100.0</updateRate>
      <controller:gazebo_ros_laser name="torso_laser_sensor_controller" plugin="libgazebo_ros_laser.so">
        <gaussianNoise>0.005</gaussianNoise>
        <alwaysOn>true</alwaysOn>
        <updateRate>15.0</updateRate>
        <topicName>top_scan</topicName>
        <frameName>/torso_laser</frameName>
        <hokuyoMinIntensity>101</hokuyoMinIntensity>
        <interface:laser name="torso_laser_sensor_iface"/>
      </controller:gazebo_ros_laser>
    </sensor:ray>
  </gazebo>
  <gazebo reference="openni_camera">
    <sensor:camera name="openni_camera">
      <imageFormat>R8G8B8</imageFormat>
      <imageSize>640 480</imageSize>
      <hfov>60</hfov>
      <nearClip>0.05</nearClip>
      <farClip>3</farClip>
      <updateRate>20</updateRate>
      <baseline>0.1</baseline>
      <controller:gazebo_ros_openni_kinect name="kinect_camera_controller" plugin="libkinect_controller.so">
        <!-- THIS IS THE FORKED VERSION UNTIL NOW (OCT16 2012) THE VERSION IN GAZEBO_PLUGINS WAS NOT SHOWING DEPTH IMAGE PROPERLY!! -->
        <alwaysOn>true</alwaysOn>
        <updateRate>20</updateRate>
        <cameraName>camera</cameraName>
        <imageTopicName>/camera/rgb/image_rect_color</imageTopicName>
        <cameraInfoTopicName>/camera/rgb/camera_info</cameraInfoTopicName>
        <depthImageTopicName>/camera/depth_registered/image</depthImageTopicName>
        <depthImageCameraInfoTopicName>/camera/depth/camera_info</depthImageCameraInfoTopicName>
        <pointCloudTopicName>/camera/rgb/points</pointCloudTopicName>
        <frameName>/openni_depth_optical_frame</frameName>
        <distortionK1>0.0</distortionK1>
        <distortionK2>0.0</distortionK2>
        <distortionK3>0.0</distortionK3>
        <distortionT1>0.0</distortionT1>
        <distortionT2>0.0</distortionT2>
        <CxPrime>0.0</CxPrime>
        <Cx>0.0</Cx>
        <Cy>0.0</Cy>
        <focalLength>0.0</focalLength>
        <hackBaseline>0.0</hackBaseline>
      </controller:gazebo_ros_openni_kinect>
    </sensor:camera>
  </gazebo>
  <gazebo reference="base_kinect_openni_camera">
    <sensor:camera name="base_kinect_openni_camera">
      <imageFormat>R8G8B8</imageFormat>
      <imageSize>640 480</imageSize>
      <hfov>60</hfov>
      <nearClip>0.05</nearClip>
      <farClip>3</farClip>
      <updateRate>20</updateRate>
      <baseline>0.1</baseline>
      <controller:gazebo_ros_openni_kinect name="base_kinect_camera_controller" plugin="libkinect_controller.so">
        <!-- THIS IS THE FORKED VERSION UNTIL NOW (OCT16 2012) THE VERSION IN GAZEBO_PLUGINS WAS NOT SHOWING DEPTH IMAGE PROPERLY!! -->
        <alwaysOn>true</alwaysOn>
        <updateRate>20</updateRate>
        <cameraName>base_camera</cameraName>
        <imageTopicName>/base_camera/rgb/image_color</imageTopicName>
        <cameraInfoTopicName>/base_camera/rgb/camera_info</cameraInfoTopicName>
        <depthImageTopicName>/base_camera/depth/image</depthImageTopicName>
        <depthImageCameraInfoTopicName>/base_camera/depth/camera_info</depthImageCameraInfoTopicName>
        <pointCloudTopicName>/base_camera/rgb/points</pointCloudTopicName>
        <frameName>/base_kinect_openni_depth_optical_frame</frameName>
        <distortionK1>0.0</distortionK1>
        <distortionK2>0.0</distortionK2>
        <distortionK3>0.0</distortionK3>
        <distortionT1>0.0</distortionT1>
        <distortionT2>0.0</distortionT2>
        <CxPrime>0.0</CxPrime>
        <Cx>0.0</Cx>
        <Cy>0.0</Cy>
        <focalLength>0.0</focalLength>
        <hackBaseline>0.0</hackBaseline>
      </controller:gazebo_ros_openni_kinect>
    </sensor:camera>
  </gazebo>
  <transmission name="spindle_trans" type="pr2_mechanism_model/SimpleTransmission">
    <actuator name="spindle_motor"/>
    <joint name="torso_joint"/>
    <mechanicalReduction>1</mechanicalReduction>
    <motorTorqueConstant>1</motorTorqueConstant>
  </transmission>
  <transmission name="shoulder_yaw_trans_left" type="pr2_mechanism_model/SimpleTransmission">
    <actuator name="shoulder_yaw_motor_left"/>
    <joint name="shoulder_yaw_joint_left"/>
    <mechanicalReduction>1</mechanicalReduction>
    <motorTorqueConstant>1</motorTorqueConstant>
  </transmission>
  <transmission name="shoulder_pitch_trans_left" type="pr2_mechanism_model/SimpleTransmission">
    <actuator name="shoulder_pitch_motor_left"/>
    <joint name="shoulder_pitch_joint_left"/>
    <mechanicalReduction>1</mechanicalReduction>
    <motorTorqueConstant>1</motorTorqueConstant>
  </transmission>
  <transmission name="shoulder_roll_trans_left" type="pr2_mechanism_model/SimpleTransmission">
    <actuator name="shoulder_roll_motor_left"/>
    <joint name="shoulder_roll_joint_left"/>
    <mechanicalReduction>1</mechanicalReduction>
    <motorTorqueConstant>1</motorTorqueConstant>
  </transmission>
  <transmission name="elbow_pitch_trans_left" type="pr2_mechanism_model/SimpleTransmission">
    <actuator name="elbow_pitch_motor_left"/>
    <joint name="elbow_pitch_joint_left"/>
    <mechanicalReduction>1</mechanicalReduction>
    <motorTorqueConstant>1</motorTorqueConstant>
  </transmission>
  <transmission name="elbow_roll_trans_left" type="pr2_mechanism_model/SimpleTransmission">
    <actuator name="elbow_roll_motor_left"/>
    <joint name="elbow_roll_joint_left"/>
    <mechanicalReduction>1</mechanicalReduction>
    <motorTorqueConstant>1</motorTorqueConstant>
  </transmission>
  <transmission name="wrist_yaw_trans_left" type="pr2_mechanism_model/SimpleTransmission">
    <actuator name="wrist_yaw_motor_left"/>
    <joint name="wrist_yaw_joint_left"/>
    <mechanicalReduction>1</mechanicalReduction>
    <motorTorqueConstant>1</motorTorqueConstant>
  </transmission>
  <transmission name="wrist_pitch_trans_left" type="pr2_mechanism_model/SimpleTransmission">
    <actuator name="wrist_pitch_motor_left"/>
    <joint name="wrist_pitch_joint_left"/>
    <mechanicalReduction>1</mechanicalReduction>
    <motorTorqueConstant>1</motorTorqueConstant>
  </transmission>
  <transmission name="finger1_trans_left" type="pr2_mechanism_model/SimpleTransmission">
    <actuator name="finger1_motor_left"/>
    <joint name="finger1_joint_left"/>
    <mechanicalReduction>1</mechanicalReduction>
    <motorTorqueConstant>1</motorTorqueConstant>
  </transmission>
  <transmission name="finger2_trans_left" type="pr2_mechanism_model/SimpleTransmission">
    <actuator name="finger2_motor_left"/>
    <joint name="finger2_joint_left"/>
    <mechanicalReduction>1</mechanicalReduction>
    <motorTorqueConstant>1</motorTorqueConstant>
  </transmission>
  <transmission name="finger1_tip_trans_left" type="pr2_mechanism_model/SimpleTransmission">
    <actuator name="finger1_tip_motor_left"/>
    <joint name="finger1_tip_joint_left"/>
    <mechanicalReduction>1</mechanicalReduction>
    <motorTorqueConstant>1</motorTorqueConstant>
  </transmission>
  <transmission name="finger2_tip_trans_left" type="pr2_mechanism_model/SimpleTransmission">
    <actuator name="finger2_tip_motor_left"/>
    <joint name="finger2_tip_joint_left"/>
    <mechanicalReduction>1</mechanicalReduction>
    <motorTorqueConstant>1</motorTorqueConstant>
  </transmission>
  <transmission name="shoulder_yaw_trans_right" type="pr2_mechanism_model/SimpleTransmission">
    <actuator name="shoulder_yaw_motor_right"/>
    <joint name="shoulder_yaw_joint_right"/>
    <mechanicalReduction>1</mechanicalReduction>
    <motorTorqueConstant>1</motorTorqueConstant>
  </transmission>
  <transmission name="shoulder_pitch_trans_right" type="pr2_mechanism_model/SimpleTransmission">
    <actuator name="shoulder_pitch_motor_right"/>
    <joint name="shoulder_pitch_joint_right"/>
    <mechanicalReduction>1</mechanicalReduction>
    <motorTorqueConstant>1</motorTorqueConstant>
  </transmission>
  <transmission name="shoulder_roll_trans_right" type="pr2_mechanism_model/SimpleTransmission">
    <actuator name="shoulder_roll_motor_right"/>
    <joint name="shoulder_roll_joint_right"/>
    <mechanicalReduction>1</mechanicalReduction>
    <motorTorqueConstant>1</motorTorqueConstant>
  </transmission>
  <transmission name="elbow_pitch_trans_right" type="pr2_mechanism_model/SimpleTransmission">
    <actuator name="elbow_pitch_motor_right"/>
    <joint name="elbow_pitch_joint_right"/>
    <mechanicalReduction>1</mechanicalReduction>
    <motorTorqueConstant>1</motorTorqueConstant>
  </transmission>
  <transmission name="elbow_roll_trans_right" type="pr2_mechanism_model/SimpleTransmission">
    <actuator name="elbow_roll_motor_right"/>
    <joint name="elbow_roll_joint_right"/>
    <mechanicalReduction>1</mechanicalReduction>
    <motorTorqueConstant>1</motorTorqueConstant>
  </transmission>
  <transmission name="wrist_yaw_trans_right" type="pr2_mechanism_model/SimpleTransmission">
    <actuator name="wrist_yaw_motor_right"/>
    <joint name="wrist_yaw_joint_right"/>
    <mechanicalReduction>1</mechanicalReduction>
    <motorTorqueConstant>1</motorTorqueConstant>
  </transmission>
  <transmission name="wrist_pitch_trans_right" type="pr2_mechanism_model/SimpleTransmission">
    <actuator name="wrist_pitch_motor_right"/>
    <joint name="wrist_pitch_joint_right"/>
    <mechanicalReduction>1</mechanicalReduction>
    <motorTorqueConstant>1</motorTorqueConstant>
  </transmission>
  <transmission name="finger1_trans_right" type="pr2_mechanism_model/SimpleTransmission">
    <actuator name="finger1_motor_right"/>
    <joint name="finger1_joint_right"/>
    <mechanicalReduction>1</mechanicalReduction>
    <motorTorqueConstant>1</motorTorqueConstant>
  </transmission>
  <transmission name="finger2_trans_right" type="pr2_mechanism_model/SimpleTransmission">
    <actuator name="finger2_motor_right"/>
    <joint name="finger2_joint_right"/>
    <mechanicalReduction>1</mechanicalReduction>
    <motorTorqueConstant>1</motorTorqueConstant>
  </transmission>
  <transmission name="finger1_tip_trans_right" type="pr2_mechanism_model/SimpleTransmission">
    <actuator name="finger1_tip_motor_right"/>
    <joint name="finger1_tip_joint_right"/>
    <mechanicalReduction>1</mechanicalReduction>
    <motorTorqueConstant>1</motorTorqueConstant>
  </transmission>
  <transmission name="finger2_tip_trans_right" type="pr2_mechanism_model/SimpleTransmission">
    <actuator name="finger2_tip_motor_right"/>
    <joint name="finger2_tip_joint_right"/>
    <mechanicalReduction>1</mechanicalReduction>
    <motorTorqueConstant>1</motorTorqueConstant>
  </transmission>
  <transmission name="wheel_inner_trans_left_front" type="pr2_mechanism_model/SimpleTransmission">
    <actuator name="wheel_inner_motor_left_front"/>
    <joint name="wheel_inner_joint_left_front"/>
    <mechanicalReduction>1</mechanicalReduction>
    <motorTorqueConstant>1</motorTorqueConstant>
  </transmission>
  <transmission name="wheel_inner_trans_right_front" type="pr2_mechanism_model/SimpleTransmission">
    <actuator name="wheel_inner_motor_right_front"/>
    <joint name="wheel_inner_joint_right_front"/>
    <mechanicalReduction>1</mechanicalReduction>
    <motorTorqueConstant>1</motorTorqueConstant>
  </transmission>
  <transmission name="wheel_inner_trans_left_rear" type="pr2_mechanism_model/SimpleTransmission">
    <actuator name="wheel_inner_motor_left_rear"/>
    <joint name="wheel_inner_joint_left_rear"/>
    <mechanicalReduction>1</mechanicalReduction>
    <motorTorqueConstant>1</motorTorqueConstant>
  </transmission>
  <transmission name="wheel_inner_trans_right_rear" type="pr2_mechanism_model/SimpleTransmission">
    <actuator name="wheel_inner_motor_right_rear"/>
    <joint name="wheel_inner_joint_right_rear"/>
    <mechanicalReduction>1</mechanicalReduction>
    <motorTorqueConstant>1</motorTorqueConstant>
  </transmission>
  <transmission name="omniwheel_trans_left_front" type="pr2_mechanism_model/SimpleTransmission">
    <actuator name="omniwheel_motor_left_front"/>
    <joint name="omni_sphere1_joint_left_front"/>
    <mechanicalReduction>1</mechanicalReduction>
    <motorTorqueConstant>1</motorTorqueConstant>
  </transmission>
  <transmission name="omniwheel_trans_right_front" type="pr2_mechanism_model/SimpleTransmission">
    <actuator name="omniwheel_motor_right_front"/>
    <joint name="omni_sphere1_joint_right_front"/>
    <mechanicalReduction>1</mechanicalReduction>
    <motorTorqueConstant>1</motorTorqueConstant>
  </transmission>
  <transmission name="omniwheel_trans_left_rear" type="pr2_mechanism_model/SimpleTransmission">
    <actuator name="omniwheel_motor_left_rear"/>
    <joint name="omni_sphere1_joint_left_rear"/>
    <mechanicalReduction>1</mechanicalReduction>
    <motorTorqueConstant>1</motorTorqueConstant>
  </transmission>
  <transmission name="omniwheel_trans_right_rear" type="pr2_mechanism_model/SimpleTransmission">
    <actuator name="omniwheel_motor_right_rear"/>
    <joint name="omni_sphere1_joint_right_rear"/>
    <mechanicalReduction>1</mechanicalReduction>
    <motorTorqueConstant>1</motorTorqueConstant>
  </transmission>
  <transmission name="omniwheel_trans_left_front" type="pr2_mechanism_model/SimpleTransmission">
    <actuator name="omniwheel_motor_left_front"/>
    <joint name="omni_sphere2_joint_left_front"/>
    <mechanicalReduction>1</mechanicalReduction>
    <motorTorqueConstant>1</motorTorqueConstant>
  </transmission>
  <transmission name="omniwheel_trans_right_front" type="pr2_mechanism_model/SimpleTransmission">
    <actuator name="omniwheel_motor_right_front"/>
    <joint name="omni_sphere2_joint_right_front"/>
    <mechanicalReduction>1</mechanicalReduction>
    <motorTorqueConstant>1</motorTorqueConstant>
  </transmission>
  <transmission name="omniwheel_trans_left_rear" type="pr2_mechanism_model/SimpleTransmission">
    <actuator name="omniwheel_motor_left_rear"/>
    <joint name="omni_sphere2_joint_left_rear"/>
    <mechanicalReduction>1</mechanicalReduction>
    <motorTorqueConstant>1</motorTorqueConstant>
  </transmission>
  <transmission name="omniwheel_trans_right_rear" type="pr2_mechanism_model/SimpleTransmission">
    <actuator name="omniwheel_motor_right_rear"/>
    <joint name="omni_sphere2_joint_right_rear"/>
    <mechanicalReduction>1</mechanicalReduction>
    <motorTorqueConstant>1</motorTorqueConstant>
  </transmission>
  <transmission name="omniwheel_trans_left_front" type="pr2_mechanism_model/SimpleTransmission">
    <actuator name="omniwheel_motor_left_front"/>
    <joint name="omni_sphere3_joint_left_front"/>
    <mechanicalReduction>1</mechanicalReduction>
    <motorTorqueConstant>1</motorTorqueConstant>
  </transmission>
  <transmission name="omniwheel_trans_right_front" type="pr2_mechanism_model/SimpleTransmission">
    <actuator name="omniwheel_motor_right_front"/>
    <joint name="omni_sphere3_joint_right_front"/>
    <mechanicalReduction>1</mechanicalReduction>
    <motorTorqueConstant>1</motorTorqueConstant>
  </transmission>
  <transmission name="omniwheel_trans_left_rear" type="pr2_mechanism_model/SimpleTransmission">
    <actuator name="omniwheel_motor_left_rear"/>
    <joint name="omni_sphere3_joint_left_rear"/>
    <mechanicalReduction>1</mechanicalReduction>
    <motorTorqueConstant>1</motorTorqueConstant>
  </transmission>
  <transmission name="omniwheel_trans_right_rear" type="pr2_mechanism_model/SimpleTransmission">
    <actuator name="omniwheel_motor_right_rear"/>
    <joint name="omni_sphere3_joint_right_rear"/>
    <mechanicalReduction>1</mechanicalReduction>
    <motorTorqueConstant>1</motorTorqueConstant>
  </transmission>
  <transmission name="omniwheel_trans_left_front" type="pr2_mechanism_model/SimpleTransmission">
    <actuator name="omniwheel_motor_left_front"/>
    <joint name="omni_sphere4_joint_left_front"/>
    <mechanicalReduction>1</mechanicalReduction>
    <motorTorqueConstant>1</motorTorqueConstant>
  </transmission>
  <transmission name="omniwheel_trans_right_front" type="pr2_mechanism_model/SimpleTransmission">
    <actuator name="omniwheel_motor_right_front"/>
    <joint name="omni_sphere4_joint_right_front"/>
    <mechanicalReduction>1</mechanicalReduction>
    <motorTorqueConstant>1</motorTorqueConstant>
  </transmission>
  <transmission name="omniwheel_trans_left_rear" type="pr2_mechanism_model/SimpleTransmission">
    <actuator name="omniwheel_motor_left_rear"/>
    <joint name="omni_sphere4_joint_left_rear"/>
    <mechanicalReduction>1</mechanicalReduction>
    <motorTorqueConstant>1</motorTorqueConstant>
  </transmission>
  <transmission name="omniwheel_trans_right_rear" type="pr2_mechanism_model/SimpleTransmission">
    <actuator name="omniwheel_motor_right_rear"/>
    <joint name="omni_sphere4_joint_right_rear"/>
    <mechanicalReduction>1</mechanicalReduction>
    <motorTorqueConstant>1</motorTorqueConstant>
  </transmission>
  <transmission name="omniwheel_trans_left_front" type="pr2_mechanism_model/SimpleTransmission">
    <actuator name="omniwheel_motor_left_front"/>
    <joint name="omni_sphere5_joint_left_front"/>
    <mechanicalReduction>1</mechanicalReduction>
    <motorTorqueConstant>1</motorTorqueConstant>
  </transmission>
  <transmission name="omniwheel_trans_right_front" type="pr2_mechanism_model/SimpleTransmission">
    <actuator name="omniwheel_motor_right_front"/>
    <joint name="omni_sphere5_joint_right_front"/>
    <mechanicalReduction>1</mechanicalReduction>
    <motorTorqueConstant>1</motorTorqueConstant>
  </transmission>
  <transmission name="omniwheel_trans_left_rear" type="pr2_mechanism_model/SimpleTransmission">
    <actuator name="omniwheel_motor_left_rear"/>
    <joint name="omni_sphere5_joint_left_rear"/>
    <mechanicalReduction>1</mechanicalReduction>
    <motorTorqueConstant>1</motorTorqueConstant>
  </transmission>
  <transmission name="omniwheel_trans_right_rear" type="pr2_mechanism_model/SimpleTransmission">
    <actuator name="omniwheel_motor_right_rear"/>
    <joint name="omni_sphere5_joint_right_rear"/>
    <mechanicalReduction>1</mechanicalReduction>
    <motorTorqueConstant>1</motorTorqueConstant>
  </transmission>
  <transmission name="omniwheel_trans_left_front" type="pr2_mechanism_model/SimpleTransmission">
    <actuator name="omniwheel_motor_left_front"/>
    <joint name="omni_sphere6_joint_left_front"/>
    <mechanicalReduction>1</mechanicalReduction>
    <motorTorqueConstant>1</motorTorqueConstant>
  </transmission>
  <transmission name="omniwheel_trans_right_front" type="pr2_mechanism_model/SimpleTransmission">
    <actuator name="omniwheel_motor_right_front"/>
    <joint name="omni_sphere6_joint_right_front"/>
    <mechanicalReduction>1</mechanicalReduction>
    <motorTorqueConstant>1</motorTorqueConstant>
  </transmission>
  <transmission name="omniwheel_trans_left_rear" type="pr2_mechanism_model/SimpleTransmission">
    <actuator name="omniwheel_motor_left_rear"/>
    <joint name="omni_sphere6_joint_left_rear"/>
    <mechanicalReduction>1</mechanicalReduction>
    <motorTorqueConstant>1</motorTorqueConstant>
  </transmission>
  <transmission name="omniwheel_trans_right_rear" type="pr2_mechanism_model/SimpleTransmission">
    <actuator name="omniwheel_motor_right_rear"/>
    <joint name="omni_sphere6_joint_right_rear"/>
    <mechanicalReduction>1</mechanicalReduction>
    <motorTorqueConstant>1</motorTorqueConstant>
  </transmission>
  <transmission name="omniwheel_trans_left_front" type="pr2_mechanism_model/SimpleTransmission">
    <actuator name="omniwheel_motor_left_front"/>
    <joint name="omni_sphere7_joint_left_front"/>
    <mechanicalReduction>1</mechanicalReduction>
    <motorTorqueConstant>1</motorTorqueConstant>
  </transmission>
  <transmission name="omniwheel_trans_right_front" type="pr2_mechanism_model/SimpleTransmission">
    <actuator name="omniwheel_motor_right_front"/>
    <joint name="omni_sphere7_joint_right_front"/>
    <mechanicalReduction>1</mechanicalReduction>
    <motorTorqueConstant>1</motorTorqueConstant>
  </transmission>
  <transmission name="omniwheel_trans_left_rear" type="pr2_mechanism_model/SimpleTransmission">
    <actuator name="omniwheel_motor_left_rear"/>
    <joint name="omni_sphere7_joint_left_rear"/>
    <mechanicalReduction>1</mechanicalReduction>
    <motorTorqueConstant>1</motorTorqueConstant>
  </transmission>
  <transmission name="omniwheel_trans_right_rear" type="pr2_mechanism_model/SimpleTransmission">
    <actuator name="omniwheel_motor_right_rear"/>
    <joint name="omni_sphere7_joint_right_rear"/>
    <mechanicalReduction>1</mechanicalReduction>
    <motorTorqueConstant>1</motorTorqueConstant>
  </transmission>
  <transmission name="omniwheel_trans_left_front" type="pr2_mechanism_model/SimpleTransmission">
    <actuator name="omniwheel_motor_left_front"/>
    <joint name="omni_sphere8_joint_left_front"/>
    <mechanicalReduction>1</mechanicalReduction>
    <motorTorqueConstant>1</motorTorqueConstant>
  </transmission>
  <transmission name="omniwheel_trans_right_front" type="pr2_mechanism_model/SimpleTransmission">
    <actuator name="omniwheel_motor_right_front"/>
    <joint name="omni_sphere8_joint_right_front"/>
    <mechanicalReduction>1</mechanicalReduction>
    <motorTorqueConstant>1</motorTorqueConstant>
  </transmission>
  <transmission name="omniwheel_trans_left_rear" type="pr2_mechanism_model/SimpleTransmission">
    <actuator name="omniwheel_motor_left_rear"/>
    <joint name="omni_sphere8_joint_left_rear"/>
    <mechanicalReduction>1</mechanicalReduction>
    <motorTorqueConstant>1</motorTorqueConstant>
  </transmission>
  <transmission name="omniwheel_trans_right_rear" type="pr2_mechanism_model/SimpleTransmission">
    <actuator name="omniwheel_motor_right_rear"/>
    <joint name="omni_sphere8_joint_right_rear"/>
    <mechanicalReduction>1</mechanicalReduction>
    <motorTorqueConstant>1</motorTorqueConstant>
  </transmission>
  <transmission name="omniwheel_trans_left_front" type="pr2_mechanism_model/SimpleTransmission">
    <actuator name="omniwheel_motor_left_front"/>
    <joint name="omni_sphere9_joint_left_front"/>
    <mechanicalReduction>1</mechanicalReduction>
    <motorTorqueConstant>1</motorTorqueConstant>
  </transmission>
  <transmission name="omniwheel_trans_right_front" type="pr2_mechanism_model/SimpleTransmission">
    <actuator name="omniwheel_motor_right_front"/>
    <joint name="omni_sphere9_joint_right_front"/>
    <mechanicalReduction>1</mechanicalReduction>
    <motorTorqueConstant>1</motorTorqueConstant>
  </transmission>
  <transmission name="omniwheel_trans_left_rear" type="pr2_mechanism_model/SimpleTransmission">
    <actuator name="omniwheel_motor_left_rear"/>
    <joint name="omni_sphere9_joint_left_rear"/>
    <mechanicalReduction>1</mechanicalReduction>
    <motorTorqueConstant>1</motorTorqueConstant>
  </transmission>
  <transmission name="omniwheel_trans_right_rear" type="pr2_mechanism_model/SimpleTransmission">
    <actuator name="omniwheel_motor_right_rear"/>
    <joint name="omni_sphere9_joint_right_rear"/>
    <mechanicalReduction>1</mechanicalReduction>
    <motorTorqueConstant>1</motorTorqueConstant>
  </transmission>
  <transmission name="omniwheel_trans_left_front" type="pr2_mechanism_model/SimpleTransmission">
    <actuator name="omniwheel_motor_left_front"/>
    <joint name="omni_sphere10_joint_left_front"/>
    <mechanicalReduction>1</mechanicalReduction>
    <motorTorqueConstant>1</motorTorqueConstant>
  </transmission>
  <transmission name="omniwheel_trans_right_front" type="pr2_mechanism_model/SimpleTransmission">
    <actuator name="omniwheel_motor_right_front"/>
    <joint name="omni_sphere10_joint_right_front"/>
    <mechanicalReduction>1</mechanicalReduction>
    <motorTorqueConstant>1</motorTorqueConstant>
  </transmission>
  <transmission name="omniwheel_trans_left_rear" type="pr2_mechanism_model/SimpleTransmission">
    <actuator name="omniwheel_motor_left_rear"/>
    <joint name="omni_sphere10_joint_left_rear"/>
    <mechanicalReduction>1</mechanicalReduction>
    <motorTorqueConstant>1</motorTorqueConstant>
  </transmission>
  <transmission name="omniwheel_trans_right_rear" type="pr2_mechanism_model/SimpleTransmission">
    <actuator name="omniwheel_motor_right_rear"/>
    <joint name="omni_sphere10_joint_right_rear"/>
    <mechanicalReduction>1</mechanicalReduction>
    <motorTorqueConstant>1</motorTorqueConstant>
  </transmission>
  <transmission name="omniwheel_trans_left_front" type="pr2_mechanism_model/SimpleTransmission">
    <actuator name="omniwheel_motor_left_front"/>
    <joint name="omni_sphere11_joint_left_front"/>
    <mechanicalReduction>1</mechanicalReduction>
    <motorTorqueConstant>1</motorTorqueConstant>
  </transmission>
  <transmission name="omniwheel_trans_right_front" type="pr2_mechanism_model/SimpleTransmission">
    <actuator name="omniwheel_motor_right_front"/>
    <joint name="omni_sphere11_joint_right_front"/>
    <mechanicalReduction>1</mechanicalReduction>
    <motorTorqueConstant>1</motorTorqueConstant>
  </transmission>
  <transmission name="omniwheel_trans_left_rear" type="pr2_mechanism_model/SimpleTransmission">
    <actuator name="omniwheel_motor_left_rear"/>
    <joint name="omni_sphere11_joint_left_rear"/>
    <mechanicalReduction>1</mechanicalReduction>
    <motorTorqueConstant>1</motorTorqueConstant>
  </transmission>
  <transmission name="omniwheel_trans_right_rear" type="pr2_mechanism_model/SimpleTransmission">
    <actuator name="omniwheel_motor_right_rear"/>
    <joint name="omni_sphere11_joint_right_rear"/>
    <mechanicalReduction>1</mechanicalReduction>
    <motorTorqueConstant>1</motorTorqueConstant>
  </transmission>
  <transmission name="omniwheel_trans_left_front" type="pr2_mechanism_model/SimpleTransmission">
    <actuator name="omniwheel_motor_left_front"/>
    <joint name="omni_sphere12_joint_left_front"/>
    <mechanicalReduction>1</mechanicalReduction>
    <motorTorqueConstant>1</motorTorqueConstant>
  </transmission>
  <transmission name="omniwheel_trans_right_front" type="pr2_mechanism_model/SimpleTransmission">
    <actuator name="omniwheel_motor_right_front"/>
    <joint name="omni_sphere12_joint_right_front"/>
    <mechanicalReduction>1</mechanicalReduction>
    <motorTorqueConstant>1</motorTorqueConstant>
  </transmission>
  <transmission name="omniwheel_trans_left_rear" type="pr2_mechanism_model/SimpleTransmission">
    <actuator name="omniwheel_motor_left_rear"/>
    <joint name="omni_sphere12_joint_left_rear"/>
    <mechanicalReduction>1</mechanicalReduction>
    <motorTorqueConstant>1</motorTorqueConstant>
  </transmission>
  <transmission name="omniwheel_trans_right_rear" type="pr2_mechanism_model/SimpleTransmission">
    <actuator name="omniwheel_motor_right_rear"/>
    <joint name="omni_sphere12_joint_right_rear"/>
    <mechanicalReduction>1</mechanicalReduction>
    <motorTorqueConstant>1</motorTorqueConstant>
  </transmission>
  <transmission name="neck_trans" type="pr2_mechanism_model/SimpleTransmission">
    <actuator name="neck_motor"/>
    <joint name="neck_pan_joint"/>
    <mechanicalReduction>1</mechanicalReduction>
    <motorTorqueConstant>1</motorTorqueConstant>
  </transmission>
  <transmission name="head_trans" type="pr2_mechanism_model/SimpleTransmission">
    <actuator name="head_motor"/>
    <joint name="neck_tilt_joint"/>
    <mechanicalReduction>1</mechanicalReduction>
    <motorTorqueConstant>1</motorTorqueConstant>
  </transmission>
</robot>
